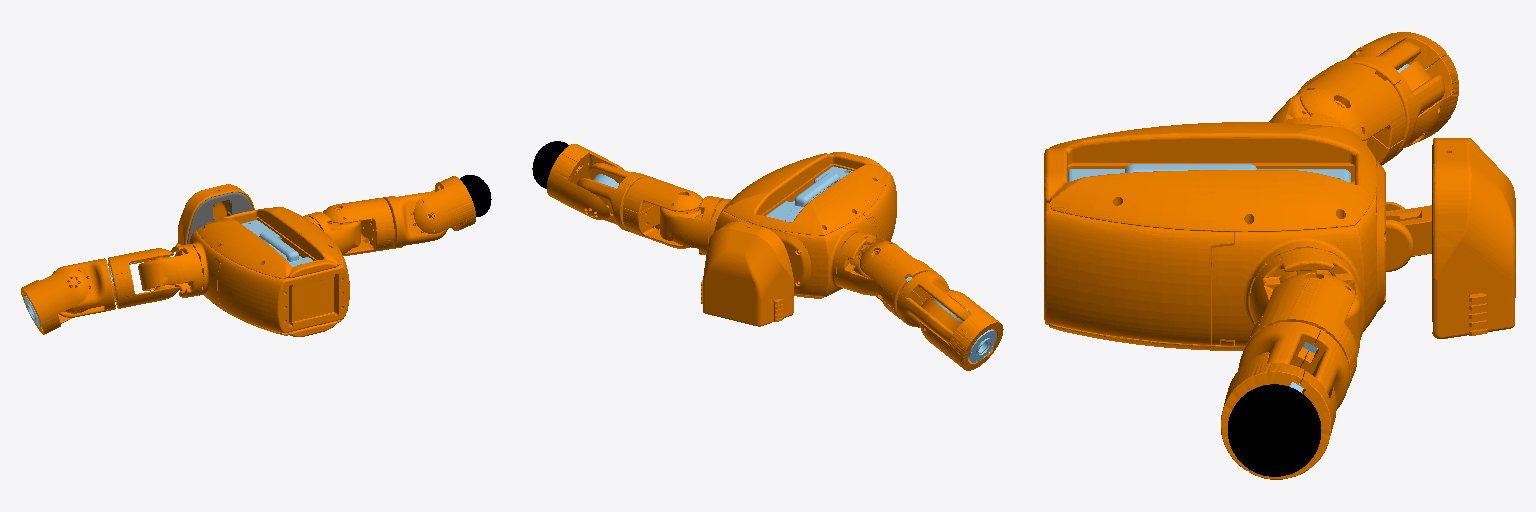
--- Render facts (derived) ---
Views: 3 orthographic renders of the robot side by side, from view 1: azimuth 30°, elevation 25°; view 2: azimuth 150°, elevation 25°; view 3: azimuth 270°, elevation 25°.
Model upper_half_assembly with 95 links and 94 joints (8 revolute, 86 fixed), rooted at link_torso_top_left_1, posed all joints at 0 but 3 set to mid-range because 0 is outside their limits (left shoulder pitch = 2.63, right shoulder roll = -1.82, right elbow pitch = 2.62).
Visible links, largest first — view 1: link_torso_bottom_left_1, link_back_plate_lower_section_1, link_back_plate_upper_section_2, link_right_arm_1_right_arm_part_3a_1, link_left_arm_1_left_arm_part_3b_1, link_left_arm_1_shoulder_1, link_torso_bottom_half_right_1, link_right_arm_1_right_arm_part_2a_1, link_left_arm_1_left_arm_part_2b_1, link_right_arm_1_right_arm_part_1b_1, link_head_assembly_1_head_outter_1, link_left_arm_1_left_arm_part_1a_1 (+7 smaller); view 2: link_head_assembly_1_head_outter_1, link_back_plate_upper_section_2, link_torso_top_left_1, link_back_plate_lower_section_1, link_left_arm_1_left_arm_part_1b_1, link_right_arm_1_shoulder_1, link_right_arm_1_right_arm_part_3b_1, link_right_arm_1_right_arm_part_1b_1, link_left_arm_1_left_arm_part_2a_1, link_left_arm_1_shoulder_1, link_left_arm_1_left_arm_part_2b_1, link_torso_bottom_left_1 (+11 smaller); view 3: link_torso_bottom_half_right_1, link_back_plate_upper_section_2, link_head_assembly_1_head_outter_1, link_back_plate_lower_section_1, link_torso_top_half_right_2, link_right_arm_1_stub_1, link_left_arm_1_left_arm_part_1b_1, link_right_arm_1_right_arm_part_1b_1, link_head_assembly_1_neck_1, link_right_arm_1_shoulder_1, link_right_arm_1_right_arm_part_3a_1, link_right_arm_1_right_arm_part_2a_1 (+11 smaller).
Boxes of the visible links, x1=… form: link_torso_bottom_left_1: x1=215, y1=253, x2=313, y2=332; link_back_plate_lower_section_1: x1=228, y1=228, x2=341, y2=278; link_back_plate_upper_section_2: x1=197, y1=207, x2=324, y2=257; link_right_arm_1_right_arm_part_3a_1: x1=414, y1=176, x2=475, y2=233; link_left_arm_1_left_arm_part_3b_1: x1=21, y1=268, x2=88, y2=332; link_left_arm_1_shoulder_1: x1=138, y1=244, x2=202, y2=297; link_torso_bottom_half_right_1: x1=286, y1=234, x2=349, y2=325; link_right_arm_1_right_arm_part_2a_1: x1=384, y1=192, x2=447, y2=248; link_left_arm_1_left_arm_part_2b_1: x1=52, y1=258, x2=116, y2=311; link_right_arm_1_right_arm_part_1b_1: x1=323, y1=198, x2=393, y2=229; link_head_assembly_1_head_outter_1: x1=176, y1=184, x2=254, y2=245; link_left_arm_1_left_arm_part_1a_1: x1=112, y1=272, x2=180, y2=308; link_head_assembly_1_head_outter_1: x1=701, y1=221, x2=793, y2=326; link_back_plate_upper_section_2: x1=724, y1=173, x2=870, y2=235; link_torso_top_left_1: x1=768, y1=214, x2=875, y2=296; link_back_plate_lower_section_1: x1=765, y1=152, x2=887, y2=206; link_left_arm_1_left_arm_part_1b_1: x1=860, y1=241, x2=936, y2=308; link_right_arm_1_shoulder_1: x1=660, y1=196, x2=723, y2=254; link_right_arm_1_right_arm_part_3b_1: x1=547, y1=154, x2=609, y2=219; link_right_arm_1_right_arm_part_1b_1: x1=623, y1=176, x2=702, y2=212; link_left_arm_1_left_arm_part_2a_1: x1=897, y1=285, x2=962, y2=342; link_left_arm_1_shoulder_1: x1=837, y1=232, x2=886, y2=295; link_left_arm_1_left_arm_part_2b_1: x1=906, y1=271, x2=971, y2=321; link_torso_bottom_left_1: x1=851, y1=168, x2=896, y2=241; link_torso_bottom_half_right_1: x1=1044, y1=197, x2=1233, y2=345; link_back_plate_upper_section_2: x1=1200, y1=122, x2=1377, y2=231; link_head_assembly_1_head_outter_1: x1=1432, y1=138, x2=1515, y2=338; link_back_plate_lower_section_1: x1=1044, y1=123, x2=1199, y2=230; link_torso_top_half_right_2: x1=1212, y1=189, x2=1376, y2=345; link_right_arm_1_stub_1: x1=1228, y1=384, x2=1321, y2=476; link_left_arm_1_left_arm_part_1b_1: x1=1300, y1=63, x2=1405, y2=147; link_right_arm_1_right_arm_part_1b_1: x1=1246, y1=272, x2=1355, y2=359; link_head_assembly_1_neck_1: x1=1377, y1=161, x2=1431, y2=311; link_right_arm_1_shoulder_1: x1=1250, y1=248, x2=1364, y2=356; link_right_arm_1_right_arm_part_3a_1: x1=1221, y1=352, x2=1303, y2=470; link_right_arm_1_right_arm_part_2a_1: x1=1238, y1=322, x2=1320, y2=369.
Bounding box of the posed robot: 1.15 × 0.5084 × 0.2214 m (x, y, z).
52 mesh visuals loaded from 93 distinct referenced files (52 binary STL); not drawn: 41 (reference not matched to a file when rendering).

robot.urdf — upper_half_assembly:
<?xml version='1.0' encoding='utf-8'?>
<robot name="upper_half_assembly">
  <link name="link_torso_top_left_1">
    <visual>
      <origin xyz="0 0 0" rpy="0 0 0" />
      <geometry>
        <mesh filename="./meshes/torso_top_left_1_simple.stl" />
        </geometry>
      <material name="link_torso_top_left_1_material">
        <color rgba="0.97254902 0.52941176 0.0039215686 1" />
        </material>
      </visual>
    <collision>
      <origin xyz="0 0 0" rpy="0 0 0" />
      <geometry>
        <mesh filename="./meshes/torso_top_left_1_simple.stl" />
        </geometry>
      </collision>
    <inertial>
      <mass value="1.4082058" />
      <inertia ixx="0.0056937695" iyy="0.0048367342" izz="0.006515341" ixy="-0.0010914973" ixz="3.5650766e-05" iyz="6.9389161e-05" />
      <origin xyz="0 0 0" rpy="-0.025327426 0.047575449 3.1377706" />
      </inertial>
    </link>
  <link name="link_torso_top_half_right_2">
    <visual>
      <origin xyz="0 0 0" rpy="0 0 0" />
      <geometry>
        <mesh filename="./meshes/torso_top_half_right_2_simple.stl" />
        </geometry>
      <material name="link_torso_top_half_right_2_material">
        <color rgba="0.97254902 0.52941176 0.0039215686 1" />
        </material>
      </visual>
    <collision>
      <origin xyz="0 0 0" rpy="0 0 0" />
      <geometry>
        <mesh filename="./meshes/torso_top_half_right_2_simple.stl" />
        </geometry>
      </collision>
    <inertial>
      <mass value="1.4342783" />
      <inertia ixx="0.0067183719" iyy="0.0057611306" izz="0.0050041417" ixy="-8.0190884e-05" ixz="9.5098445e-05" iyz="0.0011779547" />
      <origin xyz="-0.051817322 -0.067698351 0.076230913" rpy="0.33813328 -0.43770451 -0.59590428" />
      </inertial>
    </link>
  <joint name="joint_fastened_3" type="fixed">
    <origin xyz="0.077587758 0.052628725 0.067282432" rpy="1.5707963 0 1.5707963" />
    <parent link="link_torso_top_left_1" />
    <child link="link_torso_top_half_right_2" />
    </joint>
  <link name="link_front_plate_top_section_1">
    <visual>
      <origin xyz="0 0 0" rpy="0 0 0" />
      <geometry>
        <mesh filename="./meshes/front_plate_top_section_1_simple.stl" />
        </geometry>
      <material name="link_front_plate_top_section_1_material">
        <color rgba="0.97254902 0.52941176 0.0039215686 1" />
        </material>
      </visual>
    <collision>
      <origin xyz="0 0 0" rpy="0 0 0" />
      <geometry>
        <mesh filename="./meshes/front_plate_top_section_1_simple.stl" />
        </geometry>
      </collision>
    <inertial>
      <mass value="0.34600869" />
      <inertia ixx="0.0011399389" iyy="0.0018748067" izz="0.0029434056" ixy="0" ixz="0" iyz="-4.5694949e-05" />
      <origin xyz="0.1094129 0.070808195 0.020035041" rpy="0 -2.7168481e-05 3.1415921" />
      </inertial>
    </link>
  <joint name="joint_fastened_4" type="fixed">
    <origin xyz="-0.031827314 0.026314365 -0.067717568" rpy="3.1415927 0 0" />
    <parent link="link_torso_top_left_1" />
    <child link="link_front_plate_top_section_1" />
    </joint>
  <link name="link_washer_m4_15">
    <visual>
      <origin xyz="0 0 0" rpy="0 0 0" />
      <geometry>
        <mesh filename="./meshes/washer_m4_15_simple.stl" />
        </geometry>
      <material name="link_washer_m4_15_material">
        <color rgba="0.75294118 0.75294118 0.75294118 1" />
        </material>
      </visual>
    <collision>
      <origin xyz="0 0 0" rpy="0 0 0" />
      <geometry>
        <mesh filename="./meshes/washer_m4_15_simple.stl" />
        </geometry>
      </collision>
    <inertial>
      <mass value="4.5615925e-05" />
      <inertia ixx="0" iyy="0" izz="0" ixy="0" ixz="0" iyz="0" />
      <origin xyz="0 0 0.0004" rpy="0 0 1.5707963" />
      </inertial>
    </link>
  <joint name="joint_fastened_1" type="fixed">
    <origin xyz="-0.0717882 0.0022541638 -0.050148036" rpy="-1.5707963 0 1.4406356" />
    <parent link="link_torso_top_left_1" />
    <child link="link_washer_m4_15" />
    </joint>
  <link name="link_washer_m4_10">
    <visual>
      <origin xyz="0 0 0" rpy="0 0 0" />
      <geometry>
        <mesh filename="./meshes/washer_m4_10_simple.stl" />
        </geometry>
      <material name="link_washer_m4_10_material">
        <color rgba="0.75294118 0.75294118 0.75294118 1" />
        </material>
      </visual>
    <collision>
      <origin xyz="0 0 0" rpy="0 0 0" />
      <geometry>
        <mesh filename="./meshes/washer_m4_10_simple.stl" />
        </geometry>
      </collision>
    <inertial>
      <mass value="4.5615925e-05" />
      <inertia ixx="0" iyy="0" izz="0" ixy="0" ixz="0" iyz="0" />
      <origin xyz="0 0 0.0004" rpy="0 0 1.5707963" />
      </inertial>
    </link>
  <joint name="joint_fastened_67" type="fixed">
    <origin xyz="-0.075999581 -0.029918155 -0.050148036" rpy="-1.5707963 0 1.4406356" />
    <parent link="link_torso_top_left_1" />
    <child link="link_washer_m4_10" />
    </joint>
  <link name="link_washer_m4_13">
    <visual>
      <origin xyz="0 0 0" rpy="0 0 0" />
      <geometry>
        <mesh filename="./meshes/washer_m4_13_simple.stl" />
        </geometry>
      <material name="link_washer_m4_13_material">
        <color rgba="0.75294118 0.75294118 0.75294118 1" />
        </material>
      </visual>
    <collision>
      <origin xyz="0 0 0" rpy="0 0 0" />
      <geometry>
        <mesh filename="./meshes/washer_m4_13_simple.stl" />
        </geometry>
      </collision>
    <inertial>
      <mass value="4.5615925e-05" />
      <inertia ixx="0" iyy="0" izz="0" ixy="0" ixz="0" iyz="0" />
      <origin xyz="0 0 0.0004" rpy="0 0 1.5707963" />
      </inertial>
    </link>
  <joint name="joint_fastened_68" type="fixed">
    <origin xyz="-0.079406661 -0.055946107 -0.031076294" rpy="-1.5707963 0 1.4406356" />
    <parent link="link_torso_top_left_1" />
    <child link="link_washer_m4_13" />
    </joint>
  <link name="link_washer_m4_14">
    <visual>
      <origin xyz="0 0 0" rpy="0 0 0" />
      <geometry>
        <mesh filename="./meshes/washer_m4_14_simple.stl" />
        </geometry>
      <material name="link_washer_m4_14_material">
        <color rgba="0.75294118 0.75294118 0.75294118 1" />
        </material>
      </visual>
    <collision>
      <origin xyz="0 0 0" rpy="0 0 0" />
      <geometry>
        <mesh filename="./meshes/washer_m4_14_simple.stl" />
        </geometry>
      </collision>
    <inertial>
      <mass value="4.5615925e-05" />
      <inertia ixx="0" iyy="0" izz="0" ixy="0" ixz="0" iyz="0" />
      <origin xyz="0 0 0.0004" rpy="0 0 1.5707963" />
      </inertial>
    </link>
  <joint name="joint_fastened_69" type="fixed">
    <origin xyz="-0.080708049 -0.0658879 -0.00021756843" rpy="-1.5707963 0 1.4406356" />
    <parent link="link_torso_top_left_1" />
    <child link="link_washer_m4_14" />
    </joint>
  <link name="link_washer_m4_16">
    <visual>
      <origin xyz="0 0 0" rpy="0 0 0" />
      <geometry>
        <mesh filename="./meshes/washer_m4_16_simple.stl" />
        </geometry>
      <material name="link_washer_m4_16_material">
        <color rgba="0.75294118 0.75294118 0.75294118 1" />
        </material>
      </visual>
    <collision>
      <origin xyz="0 0 0" rpy="0 0 0" />
      <geometry>
        <mesh filename="./meshes/washer_m4_16_simple.stl" />
        </geometry>
      </collision>
    <inertial>
      <mass value="4.5615925e-05" />
      <inertia ixx="0" iyy="0" izz="0" ixy="0" ixz="0" iyz="0" />
      <origin xyz="0 0 0.0004" rpy="0 0 1.5707963" />
      </inertial>
    </link>
  <joint name="joint_fastened_70" type="fixed">
    <origin xyz="-0.079406661 -0.055946107 0.030641157" rpy="-1.5707963 0 1.4406356" />
    <parent link="link_torso_top_left_1" />
    <child link="link_washer_m4_16" />
    </joint>
  <link name="link_washer_m4_12">
    <visual>
      <origin xyz="0 0 0" rpy="0 0 0" />
      <geometry>
        <mesh filename="./meshes/washer_m4_12_simple.stl" />
        </geometry>
      <material name="link_washer_m4_12_material">
        <color rgba="0.75294118 0.75294118 0.75294118 1" />
        </material>
      </visual>
    <collision>
      <origin xyz="0 0 0" rpy="0 0 0" />
      <geometry>
        <mesh filename="./meshes/washer_m4_12_simple.stl" />
        </geometry>
      </collision>
    <inertial>
      <mass value="4.5615925e-05" />
      <inertia ixx="0" iyy="0" izz="0" ixy="0" ixz="0" iyz="0" />
      <origin xyz="0 0 0.0004" rpy="0 0 1.5707963" />
      </inertial>
    </link>
  <joint name="joint_fastened_71" type="fixed">
    <origin xyz="-0.075999581 -0.029918155 0.049712899" rpy="-1.5707963 0 1.4406356" />
    <parent link="link_torso_top_left_1" />
    <child link="link_washer_m4_12" />
    </joint>
  <link name="link_washer_m4_17">
    <visual>
      <origin xyz="0 0 0" rpy="0 0 0" />
      <geometry>
        <mesh filename="./meshes/washer_m4_17_simple.stl" />
        </geometry>
      <material name="link_washer_m4_17_material">
        <color rgba="0.75294118 0.75294118 0.75294118 1" />
        </material>
      </visual>
    <collision>
      <origin xyz="0 0 0" rpy="0 0 0" />
      <geometry>
        <mesh filename="./meshes/washer_m4_17_simple.stl" />
        </geometry>
      </collision>
    <inertial>
      <mass value="4.5615925e-05" />
      <inertia ixx="0" iyy="0" izz="0" ixy="0" ixz="0" iyz="0" />
      <origin xyz="0 0 0.0004" rpy="0 0 1.5707963" />
      </inertial>
    </link>
  <joint name="joint_fastened_72" type="fixed">
    <origin xyz="-0.0717882 0.0022541638 0.049712899" rpy="-1.5707963 0 1.4406356" />
    <parent link="link_torso_top_left_1" />
    <child link="link_washer_m4_17" />
    </joint>
  <link name="link_washer_m4_18">
    <visual>
      <origin xyz="0 0 0" rpy="0 0 0" />
      <geometry>
        <mesh filename="./meshes/washer_m4_18_simple.stl" />
        </geometry>
      <material name="link_washer_m4_18_material">
        <color rgba="0.75294118 0.75294118 0.75294118 1" />
        </material>
      </visual>
    <collision>
      <origin xyz="0 0 0" rpy="0 0 0" />
      <geometry>
        <mesh filename="./meshes/washer_m4_18_simple.stl" />
        </geometry>
      </collision>
    <inertial>
      <mass value="4.5615925e-05" />
      <inertia ixx="0" iyy="0" izz="0" ixy="0" ixz="0" iyz="0" />
      <origin xyz="0 0 0.0004" rpy="0 0 1.5707963" />
      </inertial>
    </link>
  <joint name="joint_fastened_73" type="fixed">
    <origin xyz="-0.06838112 0.028282116 0.030641157" rpy="-1.5707963 0 1.4406356" />
    <parent link="link_torso_top_left_1" />
    <child link="link_washer_m4_18" />
    </joint>
  <link name="link_washer_m4_19">
    <visual>
      <origin xyz="0 0 0" rpy="0 0 0" />
      <geometry>
        <mesh filename="./meshes/washer_m4_19_simple.stl" />
        </geometry>
      <material name="link_washer_m4_19_material">
        <color rgba="0.75294118 0.75294118 0.75294118 1" />
        </material>
      </visual>
    <collision>
      <origin xyz="0 0 0" rpy="0 0 0" />
      <geometry>
        <mesh filename="./meshes/washer_m4_19_simple.stl" />
        </geometry>
      </collision>
    <inertial>
      <mass value="4.5615925e-05" />
      <inertia ixx="0" iyy="0" izz="0" ixy="0" ixz="0" iyz="0" />
      <origin xyz="0 0 0.0004" rpy="3.1415927 0 -1.5707963" />
      </inertial>
    </link>
  <joint name="joint_fastened_75" type="fixed">
    <origin xyz="-0.047244891 -0.033682166 0.049712899" rpy="1.5707963 0 1.4406356" />
    <parent link="link_torso_top_left_1" />
    <child link="link_washer_m4_19" />
    </joint>
  <link name="link_washer_m4_24">
    <visual>
      <origin xyz="0 0 0" rpy="0 0 0" />
      <geometry>
        <mesh filename="./meshes/washer_m4_24_simple.stl" />
        </geometry>
      <material name="link_washer_m4_24_material">
        <color rgba="0.75294118 0.75294118 0.75294118 1" />
        </material>
      </visual>
    <collision>
      <origin xyz="0 0 0" rpy="0 0 0" />
      <geometry>
        <mesh filename="./meshes/washer_m4_24_simple.stl" />
        </geometry>
      </collision>
    <inertial>
      <mass value="4.5615925e-05" />
      <inertia ixx="0" iyy="0" izz="0" ixy="0" ixz="0" iyz="0" />
      <origin xyz="0 0 0.0004" rpy="3.1415927 0 -1.5707963" />
      </inertial>
    </link>
  <joint name="joint_fastened_76" type="fixed">
    <origin xyz="-0.051953359 -0.069651912 -0.00021756843" rpy="1.5707963 0 1.4406356" />
    <parent link="link_torso_top_left_1" />
    <child link="link_washer_m4_24" />
    </joint>
  <link name="link_head_assembly_1_neck_1">
    <visual>
      <origin xyz="0 0 0" rpy="0 0 0" />
      <geometry>
        <mesh filename="./meshes/head_assembly_1_neck_1_simple.stl" />
        </geometry>
      <material name="link_head_assembly_1_neck_1_material">
        <color rgba="0.97254902 0.52941176 0.0039215686 1" />
        </material>
      </visual>
    <collision>
      <origin xyz="0 0 0" rpy="0 0 0" />
      <geometry>
        <mesh filename="./meshes/head_assembly_1_neck_1_simple.stl" />
        </geometry>
      </collision>
    <inertial>
      <mass value="0.3554213" />
      <inertia ixx="0.00036937565" iyy="0.00073347597" izz="0.00093514459" ixy="0" ixz="0" iyz="-1.1684031e-05" />
      <origin xyz="-0.075000003 -0.035790651 -0.013305487" rpy="0 0 0" />
      </inertial>
    </link>
  <joint name="joint_fastened_10" type="fixed">
    <origin xyz="0.0025877582 0.064824336 -0.035217568" rpy="-1.5707963 0 -3.1415927" />
    <parent link="link_torso_top_left_1" />
    <child link="link_head_assembly_1_neck_1" />
    </joint>
  <link name="link_washer_m4_6">
    <visual>
      <origin xyz="0 0 0" rpy="0 0 0" />
      <geometry>
        <mesh filename="./meshes/washer_m4_6_simple.stl" />
        </geometry>
      <material name="link_washer_m4_6_material">
        <color rgba="0.75294118 0.75294118 0.75294118 1" />
        </material>
      </visual>
    <collision>
      <origin xyz="0 0 0" rpy="0 0 0" />
      <geometry>
        <mesh filename="./meshes/washer_m4_6_simple.stl" />
        </geometry>
      </collision>
    <inertial>
      <mass value="4.5615925e-05" />
      <inertia ixx="0" iyy="0" izz="0" ixy="0" ixz="0" iyz="0" />
      <origin xyz="0 0 0.0004" rpy="0 0 -1.5707963" />
      </inertial>
    </link>
  <joint name="joint_fastened_33" type="fixed">
    <origin xyz="-0.050374561 -0.11743047 0.14937596" rpy="0 -0.13016072 3.1415927" />
    <parent link="link_torso_top_half_right_2" />
    <child link="link_washer_m4_6" />
    </joint>
  <link name="link_washer_m4_7">
    <visual>
      <origin xyz="0 0 0" rpy="0 0 0" />
      <geometry>
        <mesh filename="./meshes/washer_m4_7_simple.stl" />
        </geometry>
      <material name="link_washer_m4_7_material">
        <color rgba="0.75294118 0.75294118 0.75294118 1" />
        </material>
      </visual>
    <collision>
      <origin xyz="0 0 0" rpy="0 0 0" />
      <geometry>
        <mesh filename="./meshes/washer_m4_7_simple.stl" />
        </geometry>
      </collision>
    <inertial>
      <mass value="4.5615925e-05" />
      <inertia ixx="0" iyy="0" izz="0" ixy="0" ixz="0" iyz="0" />
      <origin xyz="0 0 0.0004" rpy="0 0 -1.5707963" />
      </inertial>
    </link>
  <joint name="joint_fastened_34" type="fixed">
    <origin xyz="-0.082546879 -0.11743047 0.15358734" rpy="0 -0.13016072 3.1415927" />
    <parent link="link_torso_top_half_right_2" />
    <child link="link_washer_m4_7" />
    </joint>
  <link name="link_washer_m4_5">
    <visual>
      <origin xyz="0 0 0" rpy="0 0 0" />
      <geometry>
        <mesh filename="./meshes/washer_m4_5_simple.stl" />
        </geometry>
      <material name="link_washer_m4_5_material">
        <color rgba="0.75294118 0.75294118 0.75294118 1" />
        </material>
      </visual>
    <collision>
      <origin xyz="0 0 0" rpy="0 0 0" />
      <geometry>
        <mesh filename="./meshes/washer_m4_5_simple.stl" />
        </geometry>
      </collision>
    <inertial>
      <mass value="4.5615925e-05" />
      <inertia ixx="0" iyy="0" izz="0" ixy="0" ixz="0" iyz="0" />
      <origin xyz="0 0 0.0004" rpy="0 0 -1.5707963" />
      </inertial>
    </link>
  <joint name="joint_fastened_35" type="fixed">
    <origin xyz="-0.10857483 -0.098358726 0.15699442" rpy="0 -0.13016072 3.1415927" />
    <parent link="link_torso_top_half_right_2" />
    <child link="link_washer_m4_5" />
    </joint>
  <link name="link_washer_m4_8">
    <visual>
      <origin xyz="0 0 0" rpy="0 0 0" />
      <geometry>
        <mesh filename="./meshes/washer_m4_8_simple.stl" />
        </geometry>
      <material name="link_washer_m4_8_material">
        <color rgba="0.75294118 0.75294118 0.75294118 1" />
        </material>
      </visual>
    <collision>
      <origin xyz="0 0 0" rpy="0 0 0" />
      <geometry>
        <mesh filename="./meshes/washer_m4_8_simple.stl" />
        </geometry>
      </collision>
    <inertial>
      <mass value="4.5615925e-05" />
      <inertia ixx="0" iyy="0" izz="0" ixy="0" ixz="0" iyz="0" />
      <origin xyz="0 0 0.0004" rpy="0 0 -1.5707963" />
      </inertial>
    </link>
  <joint name="joint_fastened_36" type="fixed">
    <origin xyz="-0.11851663 -0.0675 0.15829581" rpy="0 -0.13016072 3.1415927" />
    <parent link="link_torso_top_half_right_2" />
    <child link="link_washer_m4_8" />
    </joint>
  <link name="link_washer_m4_9">
    <visual>
      <origin xyz="0 0 0" rpy="0 0 0" />
      <geometry>
        <mesh filename="./meshes/washer_m4_9_simple.stl" />
        </geometry>
      <material name="link_washer_m4_9_material">
        <color rgba="0.75294118 0.75294118 0.75294118 1" />
        </material>
      </visual>
    <collision>
      <origin xyz="0 0 0" rpy="0 0 0" />
      <geometry>
        <mesh filename="./meshes/washer_m4_9_simple.stl" />
        </geometry>
      </collision>
    <inertial>
      <mass value="4.5615925e-05" />
      <inertia ixx="0" iyy="0" izz="0" ixy="0" ixz="0" iyz="0" />
      <origin xyz="0 0 0.0004" rpy="0 0 -1.5707963" />
      </inertial>
    </link>
  <joint name="joint_fastened_37" type="fixed">
    <origin xyz="-0.10857483 -0.036641274 0.15699442" rpy="0 -0.13016072 3.1415927" />
    <parent link="link_torso_top_half_right_2" />
    <child link="link_washer_m4_9" />
    </joint>
  <link name="link_washer_m4_4">
    <visual>
      <origin xyz="0 0 0" rpy="0 0 0" />
      <geometry>
        <mesh filename="./meshes/washer_m4_4_simple.stl" />
        </geometry>
      <material name="link_washer_m4_4_material">
        <color rgba="0.75294118 0.75294118 0.75294118 1" />
        </material>
      </visual>
    <collision>
      <origin xyz="0 0 0" rpy="0 0 0" />
      <geometry>
        <mesh filename="./meshes/washer_m4_4_simple.stl" />
        </geometry>
      </collision>
    <inertial>
      <mass value="4.5615925e-05" />
      <inertia ixx="0" iyy="0" izz="0" ixy="0" ixz="0" iyz="0" />
      <origin xyz="0 0 0.0004" rpy="0 0 -1.5707963" />
      </inertial>
    </link>
  <joint name="joint_fastened_38" type="fixed">
    <origin xyz="-0.082546879 -0.017569533 0.15358734" rpy="0 -0.13016072 3.1415927" />
    <parent link="link_torso_top_half_right_2" />
    <child link="link_washer_m4_4" />
    </joint>
  <link name="link_washer_m4_11">
    <visual>
      <origin xyz="0 0 0" rpy="0 0 0" />
      <geometry>
        <mesh filename="./meshes/washer_m4_11_simple.stl" />
        </geometry>
      <material name="link_washer_m4_11_material">
        <color rgba="0.75294118 0.75294118 0.75294118 1" />
        </material>
      </visual>
    <collision>
      <origin xyz="0 0 0" rpy="0 0 0" />
      <geometry>
        <mesh filename="./meshes/washer_m4_11_simple.stl" />
        </geometry>
      </collision>
    <inertial>
      <mass value="4.5615925e-05" />
      <inertia ixx="0" iyy="0" izz="0" ixy="0" ixz="0" iyz="0" />
      <origin xyz="0 0 0.0004" rpy="0 0 -1.5707963" />
      </inertial>
    </link>
  <joint name="joint_fastened_39" type="fixed">
    <origin xyz="-0.050374561 -0.017569533 0.14937596" rpy="0 -0.13016072 3.1415927" />
    <parent link="link_torso_top_half_right_2" />
    <child link="link_washer_m4_11" />
    </joint>
  <link name="link_back_plate_upper_section_2">
    <visual>
      <origin xyz="0 0 0" rpy="0 0 0" />
      <geometry>
        <mesh filename="./meshes/back_plate_upper_section_2_simple.stl" />
        </geometry>
      <material name="link_back_plate_upper_section_2_material">
        <color rgba="0.97254902 0.52941176 0.0039215686 1" />
        </material>
      </visual>
    <collision>
      <origin xyz="0 0 0" rpy="0 0 0" />
      <geometry>
        <mesh filename="./meshes/back_plate_upper_section_2_simple.stl" />
        </geometry>
      </collision>
    <inertial>
      <mass value="0.29699096" />
      <inertia ixx="0.00095993414" iyy="0.0019372525" izz="0.0028437586" ixy="0" ixz="0" iyz="4.2191982e-05" />
      <origin xyz="-0.10932046 -0.066164701 0.016189517" rpy="-3.1415926 -5.8545943e-05 -3.1415913" />
      </inertial>
    </link>
  <joint name="joint_fastened_55" type="fixed">
    <origin xyz="-0.026314359 0 0.10941507" rpy="-1.5707963 -1.5707963 0" />
    <parent link="link_torso_top_half_right_2" />
    <child link="link_back_plate_upper_section_2" />
    </joint>
  <link name="link_washer_m4_33">
    <visual>
      <origin xyz="0 0 0" rpy="0 0 0" />
      <geometry>
        <mesh filename="./meshes/washer_m4_33_simple.stl" />
        </geometry>
      <material name="link_washer_m4_33_material">
        <color rgba="0.75294118 0.75294118 0.75294118 1" />
        </material>
      </visual>
    <collision>
      <origin xyz="0 0 0" rpy="0 0 0" />
      <geometry>
        <mesh filename="./meshes/washer_m4_33_simple.stl" />
        </geometry>
      </collision>
    <inertial>
      <mass value="4.5615925e-05" />
      <inertia ixx="0" iyy="0" izz="0" ixy="0" ixz="0" iyz="0" />
      <origin xyz="0 0 0.0004" rpy="0 0 -1.5707963" />
      </inertial>
    </link>
  <joint name="joint_fastened_28" type="fixed">
    <origin xyz="-0.054138572 -0.017569533 0.12062127" rpy="3.1415927 -0.13016072 3.1415927" />
    <parent link="link_torso_top_half_right_2" />
    <child link="link_washer_m4_33" />
    </joint>
  <link name="link_washer_m4_26">
    <visual>
      <origin xyz="0 0 0" rpy="0 0 0" />
      <geometry>
        <mesh filename="./meshes/washer_m4_26_simple.stl" />
        </geometry>
      <material name="link_washer_m4_26_material">
        <color rgba="0.75294118 0.75294118 0.75294118 1" />
        </material>
      </visual>
    <collision>
      <origin xyz="0 0 0" rpy="0 0 0" />
      <geometry>
        <mesh filename="./meshes/washer_m4_26_simple.stl" />
        </geometry>
      </collision>
    <inertial>
      <mass value="4.5615925e-05" />
      <inertia ixx="0" iyy="0" izz="0" ixy="0" ixz="0" iyz="0" />
      <origin xyz="0 0 0.0004" rpy="0 0 -1.5707963" />
      </inertial>
    </link>
  <joint name="joint_fastened_83" type="fixed">
    <origin xyz="-0.12228064 -0.0675 0.12954112" rpy="3.1415927 -0.13016072 3.1415927" />
    <parent link="link_torso_top_half_right_2" />
    <child link="link_washer_m4_26" />
    </joint>
  <link name="link_washer_m4_3">
    <visual>
      <origin xyz="0 0 0" rpy="0 0 0" />
      <geometry>
        <mesh filename="./meshes/washer_m4_3_simple.stl" />
        </geometry>
      <material name="link_washer_m4_3_material">
        <color rgba="0.75294118 0.75294118 0.75294118 1" />
        </material>
      </visual>
    <collision>
      <origin xyz="0 0 0" rpy="0 0 0" />
      <geometry>
        <mesh filename="./meshes/washer_m4_3_simple.stl" />
        </geometry>
      </collision>
    <inertial>
      <mass value="4.5615925e-05" />
      <inertia ixx="0" iyy="0" izz="0" ixy="0" ixz="0" iyz="0" />
      <origin xyz="0 0 0.0004" rpy="0 0 -1.5707963" />
      </inertial>
    </link>
  <joint name="joint_fastened_24" type="fixed">
    <origin xyz="-0.024346608 -0.036641274 0.14596888" rpy="0 -0.13016072 3.1415927" />
    <parent link="link_torso_top_half_right_2" />
    <child link="link_washer_m4_3" />
    </joint>
  <link name="link_36v_battery_1">
    <visual>
      <origin xyz="0 0 0" rpy="0 0 0" />
      <geometry>
        <mesh filename="./meshes/36v_battery_1_simple.stl" />
        </geometry>
      <material name="link_36v_battery_1_material">
        <color rgba="0.61568627 0.81176471 0.92941176 1" />
        </material>
      </visual>
    <collision>
      <origin xyz="0 0 0" rpy="0 0 0" />
      <geometry>
        <mesh filename="./meshes/36v_battery_1_simple.stl" />
        </geometry>
      </collision>
    <inertial>
      <mass value="2.0955967" />
      <inertia ixx="0.0084129816" iyy="0.0076952975" izz="0.0024341772" ixy="0" ixz="0" iyz="0" />
      <origin xyz="0 0 -0.098933" rpy="3.1415927 0 3.1415927" />
      </inertial>
    </link>
  <joint name="joint_fastened_41" type="fixed">
    <origin xyz="-0.038195612 -0.0811 0" rpy="-3.1415927 -1.5707963 0" />
    <parent link="link_torso_top_half_right_2" />
    <child link="link_36v_battery_1" />
    </joint>
  <link name="link_front_plate_bottom_section_1">
    <visual>
      <origin xyz="0 0 0" rpy="0 0 0" />
      <geometry>
        <mesh filename="./meshes/front_plate_bottom_section_1_simple.stl" />
        </geometry>
      <material name="link_front_plate_bottom_section_1_material">
        <color rgba="0.97254902 0.52941176 0.0039215686 1" />
        </material>
      </visual>
    <collision>
      <origin xyz="0 0 0" rpy="0 0 0" />
      <geometry>
        <mesh filename="./meshes/front_plate_bottom_section_1_simple.stl" />
        </geometry>
      </collision>
    <inertial>
      <mass value="0.37044647" />
      <inertia ixx="0.0011796221" iyy="0.0024890633" izz="0.0013863249" ixy="0" ixz="0" iyz="-8.8613506e-05" />
      <origin xyz="-2.2498728e-06 -0.018554539 -0.086809475" rpy="0 0.00015558977 3.1414241" />
      </inertial>
    </link>
  <joint name="joint_fastened_53" type="fixed">
    <origin xyz="0.10941508 0.15200268 0.035" rpy="1.5707963 0 0" />
    <parent link="link_front_plate_top_section_1" />
    <child link="link_front_plate_bottom_section_1" />
    </joint>
  <link name="link_robstride_04_mock_2_rs_04_stator_1">
    <visual>
      <origin xyz="0 0 0" rpy="0 0 0" />
      <geometry>
        <mesh filename="./meshes/robstride_04_mock_2_rs_04_stator_1_simple.stl" />
        </geometry>
      <material name="link_robstride_04_mock_2_rs_04_stator_1_material">
        <color rgba="0.23137255 0.38039216 0.70588235 1" />
        </material>
      </visual>
    <collision>
      <origin xyz="0 0 0" rpy="0 0 0" />
      <geometry>
        <mesh filename="./meshes/robstride_04_mock_2_rs_04_stator_1_simple.stl" />
        </geometry>
      </collision>
    <inertial>
      <mass value="1.2401215" />
      <inertia ixx="0.0014258703" iyy="0.0014595009" izz="0.0023661617" ixy="0" ixz="0" iyz="-3.2654023e-06" />
      <origin xyz="0.053 -0.00013786024 -0.024399367" rpy="3.1415927 0 0" />
      </inertial>
    </link>
  <joint name="joint_fastened_30" type="fixed">
    <origin xyz="0 0 0.0008" rpy="3.1415927 0 0" />
    <parent link="link_washer_m4_24" />
    <child link="link_robstride_04_mock_2_rs_04_stator_1" />
    </joint>
  <link name="link_head_assembly_1_head_inner_1">
    <visual>
      <origin xyz="0 0 0" rpy="0 0 0" />
      <geometry>
        <mesh filename="./meshes/head_assembly_1_head_inner_1_simple.stl" />
        </geometry>
      <material name="link_head_assembly_1_head_inner_1_material">
        <color rgba="0.49803922 0.49803922 0.49803922 1" />
        </material>
      </visual>
    <collision>
      <origin xyz="0 0 0" rpy="0 0 0" />
      <geometry>
        <mesh filename="./meshes/head_assembly_1_head_inner_1_simple.stl" />
        </geometry>
      </collision>
    <inertial>
      <mass value="0.50934485" />
      <inertia ixx="0.0016235943" iyy="0.0017599805" izz="0.0030161307" ixy="2.9008214e-06" ixz="-5.9913818e-06" iyz="0.00016836122" />
      <origin xyz="0.00093888986 0.020417048 -0.017512282" rpy="0.13093988 -0.0039310025 3.1096118" />
      </inertial>
    </link>
  <joint name="joint_head_assembly_1_fastened_2" type="fixed">
    <origin xyz="-0.074999995 -0.051816349 -0.06" rpy="0 0 0" />
    <parent link="link_head_assembly_1_neck_1" />
    <child link="link_head_assembly_1_head_inner_1" />
    </joint>
  <link name="link_robstride_04_mock_1_rs_04_stator_1">
    <visual>
      <origin xyz="0 0 0" rpy="0 0 0" />
      <geometry>
        <mesh filename="./meshes/robstride_04_mock_1_rs_04_stator_1_simple.stl" />
        </geometry>
      <material name="link_robstride_04_mock_1_rs_04_stator_1_material">
        <color rgba="0.23137255 0.38039216 0.70588235 1" />
        </material>
      </visual>
    <collision>
      <origin xyz="0 0 0" rpy="0 0 0" />
      <geometry>
        <mesh filename="./meshes/robstride_04_mock_1_rs_04_stator_1_simple.stl" />
        </geometry>
      </collision>
    <inertial>
      <mass value="1.2401215" />
      <inertia ixx="0.0023661617" iyy="0.0014595009" izz="0.0014258703" ixy="-3.2654023e-06" ixz="0" iyz="0" />
      <origin xyz="-0.00013786024 -0.053 0.024399367" rpy="3.1379911 0.0036015076 0" />
      </inertial>
    </link>
  <joint name="joint_fastened_23" type="fixed">
    <origin xyz="0 0 0.0008" rpy="0 0 -1.5707963" />
    <parent link="link_washer_m4_26" />
    <child link="link_robstride_04_mock_1_rs_04_stator_1" />
    </joint>
  <link name="link_torso_bottom_left_1">
    <visual>
      <origin xyz="0 0 0" rpy="0 0 0" />
      <geometry>
        <mesh filename="./meshes/torso_bottom_left_1_simple.stl" />
        </geometry>
      <material name="link_torso_bottom_left_1_material">
        <color rgba="0.97254902 0.52941176 0.0039215686 1" />
        </material>
      </visual>
    <collision>
      <origin xyz="0 0 0" rpy="0 0 0" />
      <geometry>
        <mesh filename="./meshes/torso_bottom_left_1_simple.stl" />
        </geometry>
      </collision>
    <inertial>
      <mass value="1.3423316" />
      <inertia ixx="0.0064336478" iyy="0.0038264467" izz="0.0065490736" ixy="-0.0014386119" ixz="3.9993789e-05" iyz="-2.7051109e-05" />
      <origin xyz="0.00050395379 -0.0078380523 -0.068322386" rpy="1.7897936 -1.1442695 -0.2024662" />
      </inertial>
    </link>
  <joint name="joint_fastened_5" type="fixed">
    <origin xyz="-0.088726412 -0.035 -0.088486315" rpy="-1.5707963 0 0" />
    <parent link="link_front_plate_bottom_section_1" />
    <child link="link_torso_bottom_left_1" />
    </joint>
  <link name="link_robstride_04_mock_2_rs_04_rotor_1">
    <visual>
      <origin xyz="0 0 0" rpy="0 0 0" />
      <geometry>
        <mesh filename="./meshes/robstride_04_mock_2_rs_04_rotor_1_simple.stl" />
        </geometry>
      <material name="link_robstride_04_mock_2_rs_04_rotor_1_material">
        <color rgba="0.91764706 0.91764706 0.91764706 1" />
        </material>
      </visual>
    <collision>
      <origin xyz="0 0 0" rpy="0 0 0" />
      <geometry>
        <mesh filename="./meshes/robstride_04_mock_2_rs_04_rotor_1_simple.stl" />
        </geometry>
      </collision>
    <inertial>
      <mass value="0.18007617" />
      <inertia ixx="5.4934872e-05" iyy="5.4934872e-05" izz="6.258733e-05" ixy="0" ixz="0" iyz="0" />
      <origin xyz="0 0 -0.01983378" rpy="0 1.5707963 0" />
      </inertial>
    </link>
  <joint name="left shoulder pitch" type="revolute">
    <origin xyz="0.053 0 -0.039" rpy="3.1415927 0 0" />
    <parent link="link_robstride_04_mock_2_rs_04_stator_1" />
    <child link="link_robstride_04_mock_2_rs_04_rotor_1" />
    <limit effort="80" velocity="5" lower="0.034906585" upper="5.2185345" />
    <axis xyz="0 0 -1" />
    </joint>
  <link name="link_head_assembly_1_head_outter_1">
    <visual>
      <origin xyz="0 0 0" rpy="0 0 0" />
      <geometry>
        <mesh filename="./meshes/head_assembly_1_head_outter_1_simple.stl" />
        </geometry>
      <material name="link_head_assembly_1_head_outter_1_material">
        <color rgba="0.97254902 0.52941176 0.0039215686 1" />
        </material>
      </visual>
    <collision>
      <origin xyz="0 0 0" rpy="0 0 0" />
      <geometry>
        <mesh filename="./meshes/head_assembly_1_head_outter_1_simple.stl" />
        </geometry>
      </collision>
    <inertial>
      <mass value="0.38329746" />
      <inertia ixx="0.0014575347" iyy="0.0026603996" izz="0.0017861547" ixy="0" ixz="0" iyz="-0.0001733053" />
      <origin xyz="0 0.036248868 0.08885866" rpy="0 1.031357e-05 -1.246993e-05" />
      </inertial>
    </link>
  <joint name="joint_head_assembly_1_fastened_1" type="fixed">
    <origin xyz="0 -0.079 -0.018964466" rpy="-1.5707963 0 0" />
    <parent link="link_head_assembly_1_head_inner_1" />
    <child link="link_head_assembly_1_head_outter_1" />
    </joint>
  <link name="link_head_assembly_1_camera_mount_1">
    <visual>
      <origin xyz="0 0 0" rpy="0 0 0" />
      <geometry>
        <mesh filename="./meshes/head_assembly_1_camera_mount_1_simple.stl" />
        </geometry>
      <material name="link_head_assembly_1_camera_mount_1_material">
        <color rgba="0.64705882 0.64705882 0.64705882 1" />
        </material>
      </visual>
    <collision>
      <origin xyz="0 0 0" rpy="0 0 0" />
      <geometry>
        <mesh filename="./meshes/head_assembly_1_camera_mount_1_simple.stl" />
        </geometry>
      </collision>
    <inertial>
      <mass value="0.048726412" />
      <inertia ixx="2.8893768e-05" iyy="6.465193e-05" izz="4.8229483e-05" ixy="0" ixz="0" iyz="8.3375487e-06" />
      <origin xyz="0.016000007 -0.018650499 0.026876772" rpy="0 0 0" />
      </inertial>
    </link>
  <joint name="joint_head_assembly_1_fastened_3" type="fixed">
    <origin xyz="-0.016 0.0415 -0.01" rpy="3.1415927 0 0" />
    <parent link="link_head_assembly_1_head_inner_1" />
    <child link="link_head_assembly_1_camera_mount_1" />
    </joint>
  <link name="link_robstride_04_mock_1_rs_04_rotor_1">
    <visual>
      <origin xyz="0 0 0" rpy="0 0 0" />
      <geometry>
        <mesh filename="./meshes/robstride_04_mock_1_rs_04_rotor_1_simple.stl" />
        </geometry>
      <material name="link_robstride_04_mock_1_rs_04_rotor_1_material">
        <color rgba="0.91764706 0.91764706 0.91764706 1" />
        </material>
      </visual>
    <collision>
      <origin xyz="0 0 0" rpy="0 0 0" />
      <geometry>
        <mesh filename="./meshes/robstride_04_mock_1_rs_04_rotor_1_simple.stl" />
        </geometry>
      </collision>
    <inertial>
      <mass value="0.18007617" />
      <inertia ixx="5.4934872e-05" iyy="5.4934872e-05" izz="6.258733e-05" ixy="0" ixz="0" iyz="0" />
      <origin xyz="0 0 -0.01983378" rpy="0 1.5707963 0" />
      </inertial>
    </link>
  <joint name="right shoulder pitch" type="revolute">
    <origin xyz="0 -0.053 0.039" rpy="0 0 1.5707963" />
    <parent link="link_robstride_04_mock_1_rs_04_stator_1" />
    <child link="link_robstride_04_mock_1_rs_04_rotor_1" />
    <limit effort="80" velocity="5" lower="-1.012291" upper="4.1538836" />
    <axis xyz="0 0 -1" />
    </joint>
  <link name="link_torso_bottom_half_right_1">
    <visual>
      <origin xyz="0 0 0" rpy="0 0 0" />
      <geometry>
        <mesh filename="./meshes/torso_bottom_half_right_1_simple.stl" />
        </geometry>
      <material name="link_torso_bottom_half_right_1_material">
        <color rgba="0.97254902 0.52941176 0.0039215686 1" />
        </material>
      </visual>
    <collision>
      <origin xyz="0 0 0" rpy="0 0 0" />
      <geometry>
        <mesh filename="./meshes/torso_bottom_half_right_1_simple.stl" />
        </geometry>
      </collision>
    <inertial>
      <mass value="1.3690608" />
      <inertia ixx="0.0068665985" iyy="0.0065706323" izz="0.0040184444" ixy="-4.5420787e-05" ixz="-2.2134662e-05" iyz="0.0015853306" />
      <origin xyz="0.08097111 -0.00087263965 -0.08660053" rpy="-1.570904 0.4465244 1.4633195" />
      </inertial>
    </link>
  <joint name="joint_fastened_6" type="fixed">
    <origin xyz="0.088726405 0.074392259 -0.0675" rpy="1.5707963 0 -1.5707963" />
    <parent link="link_torso_bottom_left_1" />
    <child link="link_torso_bottom_half_right_1" />
    </joint>
  <link name="link_back_plate_lower_section_1">
    <visual>
      <origin xyz="0 0 0" rpy="0 0 0" />
      <geometry>
        <mesh filename="./meshes/back_plate_lower_section_1_simple.stl" />
        </geometry>
      <material name="link_back_plate_lower_section_1_material">
        <color rgba="0.97254902 0.52941176 0.0039215686 1" />
        </material>
      </visual>
    <collision>
      <origin xyz="0 0 0" rpy="0 0 0" />
      <geometry>
        <mesh filename="./meshes/back_plate_lower_section_1_simple.stl" />
        </geometry>
      </collision>
    <inertial>
      <mass value="0.28879992" />
      <inertia ixx="0.00090059931" iyy="0.0013486015" izz="0.0022070793" ixy="0" ixz="0" iyz="-5.1540223e-05" />
      <origin xyz="0.088819191 -0.00059776261 -0.013413402" rpy="3.1415925 -0.00022426108 3.141586" />
      </inertial>
    </link>
  <joint name="joint_fastened_2" type="fixed">
    <origin xyz="0 0 -0.135" rpy="0 0 0" />
    <parent link="link_torso_bottom_left_1" />
    <child link="link_back_plate_lower_section_1" />
    </joint>
  <link name="link_robot_side_connector_1">
    <visual>
      <origin xyz="0 0 0" rpy="0 0 0" />
      <geometry>
        <mesh filename="./meshes/robot_side_connector_1_simple.stl" />
        </geometry>
      <material name="link_robot_side_connector_1_material">
        <color rgba="0.61568627 0.81176471 0.92941176 1" />
        </material>
      </visual>
    <collision>
      <origin xyz="0 0 0" rpy="0 0 0" />
      <geometry>
        <mesh filename="./meshes/robot_side_connector_1_simple.stl" />
        </geometry>
      </collision>
    <inertial>
      <mass value="0.0092367364" />
      <inertia ixx="1.5800622e-06" iyy="2.4137235e-06" izz="1.5900155e-06" ixy="0" ixz="0" iyz="0" />
      <origin xyz="-0.018 0.0054170071 0.0088167221" rpy="1.8107026 0 1.5707963" />
      </inertial>
    </link>
  <joint name="joint_fastened_7" type="fixed">
    <origin xyz="0.070726405 0.043459259 -0.0063" rpy="3.1415927 0 3.1415927" />
    <parent link="link_torso_bottom_left_1" />
    <child link="link_robot_side_connector_1" />
    </joint>
  <link name="link_left_arm_1_shoulder_1">
    <visual>
      <origin xyz="0 0 0" rpy="0 0 0" />
      <geometry>
        <mesh filename="./meshes/left_arm_1_shoulder_1_simple.stl" />
        </geometry>
      <material name="link_left_arm_1_shoulder_1_material">
        <color rgba="0.97254902 0.52941176 0.0039215686 1" />
        </material>
      </visual>
    <collision>
      <origin xyz="0 0 0" rpy="0 0 0" />
      <geometry>
        <mesh filename="./meshes/left_arm_1_shoulder_1_simple.stl" />
        </geometry>
      </collision>
    <inertial>
      <mass value="0.61456675" />
      <inertia ixx="0.0011736791" iyy="0.001760988" izz="0.0014309867" ixy="0.00013866521" ixz="0.00022284171" iyz="-8.0033741e-05" />
      <origin xyz="-0.018904716 -0.0091632833 0.06679915" rpy="2.407695 8.8012944e-06 2.4077603" />
      </inertial>
    </link>
  <joint name="joint_fastened_42" type="fixed">
    <origin xyz="0.012727922 -0.012727922 -0.0395" rpy="3.1415927 0 0" />
    <parent link="link_robstride_04_mock_2_rs_04_rotor_1" />
    <child link="link_left_arm_1_shoulder_1" />
    </joint>
  <link name="link_head_assembly_1_camera_2_board_1">
    <visual>
      <origin xyz="0 0 0" rpy="0 0 0" />
      <geometry>
        <mesh filename="./meshes/head_assembly_1_camera_2_board_1_simple.stl" />
        </geometry>
      <material name="link_head_assembly_1_camera_2_board_1_material">
        <color rgba="0 0.50196078 0 1" />
        </material>
      </visual>
    <collision>
      <origin xyz="0 0 0" rpy="0 0 0" />
      <geometry>
        <mesh filename="./meshes/head_assembly_1_camera_2_board_1_simple.stl" />
        </geometry>
      </collision>
    <inertial>
      <mass value="0.0025890113" />
      <inertia ixx="0" iyy="0" izz="0" ixy="0" ixz="0" iyz="0" />
      <origin xyz="-0.01698703 0.017014974 -0.00079999967" rpy="3.1415927 0 0" />
      </inertial>
    </link>
  <joint name="joint_head_assembly_1_fastened_4" type="fixed">
    <origin xyz="0.084018 -0.02 0.037018" rpy="-1.5707963 0 0" />
    <parent link="link_head_assembly_1_camera_mount_1" />
    <child link="link_head_assembly_1_camera_2_board_1" />
    </joint>
  <link name="link_head_assembly_1_camera_1_board_1">
    <visual>
      <origin xyz="0 0 0" rpy="0 0 0" />
      <geometry>
        <mesh filename="./meshes/head_assembly_1_camera_1_board_1_simple.stl" />
        </geometry>
      <material name="link_head_assembly_1_camera_1_board_1_material">
        <color rgba="0 0.50196078 0 1" />
        </material>
      </visual>
    <collision>
      <origin xyz="0 0 0" rpy="0 0 0" />
      <geometry>
        <mesh filename="./meshes/head_assembly_1_camera_1_board_1_simple.stl" />
        </geometry>
      </collision>
    <inertial>
      <mass value="0.0025890113" />
      <inertia ixx="0" iyy="0" izz="0" ixy="0" ixz="0" iyz="0" />
      <origin xyz="0.01704897 -0.017021026 -0.00079999967" rpy="3.1415927 0 0" />
      </inertial>
    </link>
  <joint name="joint_head_assembly_1_fastened_5" type="fixed">
    <origin xyz="-0.052018 -0.02 0.037018" rpy="-1.5707963 1.5707963 0" />
    <parent link="link_head_assembly_1_camera_mount_1" />
    <child link="link_head_assembly_1_camera_1_board_1" />
    </joint>
  <link name="link_right_arm_1_shoulder_1">
    <visual>
      <origin xyz="0 0 0" rpy="0 0 0" />
      <geometry>
        <mesh filename="./meshes/right_arm_1_shoulder_1_simple.stl" />
        </geometry>
      <material name="link_right_arm_1_shoulder_1_material">
        <color rgba="0.97254902 0.52941176 0.0039215686 1" />
        </material>
      </visual>
    <collision>
      <origin xyz="0 0 0" rpy="0 0 0" />
      <geometry>
        <mesh filename="./meshes/right_arm_1_shoulder_1_simple.stl" />
        </geometry>
      </collision>
    <inertial>
      <mass value="0.61456675" />
      <inertia ixx="0.0015596464" iyy="0.001760988" izz="0.0010450195" ixy="0" ixz="0" iyz="0.00016010447" />
      <origin xyz="-0.0046574135 0.024518245 -0.06679915" rpy="1.3604975 -9.1289906e-05 1.7811657" />
      </inertial>
    </link>
  <joint name="joint_fastened_27" type="fixed">
    <origin xyz="0.0046587428 -0.017386665 -0.0395" rpy="0 0 0" />
    <parent link="link_robstride_04_mock_1_rs_04_rotor_1" />
    <child link="link_right_arm_1_shoulder_1" />
    </joint>
  <link name="link_removable_cap_1">
    <visual>
      <origin xyz="0 0 0" rpy="0 0 0" />
      <geometry>
        <mesh filename="./meshes/removable_cap_1_simple.stl" />
        </geometry>
      <material name="link_removable_cap_1_material">
        <color rgba="0.61568627 0.81176471 0.92941176 1" />
        </material>
      </visual>
    <collision>
      <origin xyz="0 0 0" rpy="0 0 0" />
      <geometry>
        <mesh filename="./meshes/removable_cap_1_simple.stl" />
        </geometry>
      </collision>
    <inertial>
      <mass value="0.27956099" />
      <inertia ixx="0.00054243035" iyy="0.00070951242" izz="0.00032742126" ixy="0" ixz="0" iyz="-1.3057599e-06" />
      <origin xyz="-0.0040000064 0.01551137 -0.070737853" rpy="-1.0496504 1.5707959 0.51772856" />
      </inertial>
    </link>
  <joint name="joint_fastened_8" type="fixed">
    <origin xyz="-0.014 0.001 0.00315" rpy="3.1415927 0 0" />
    <parent link="link_robot_side_connector_1" />
    <child link="link_removable_cap_1" />
    </joint>
  <link name="link_left_arm_1_washer_m4_1">
    <visual>
      <origin xyz="0 0 0" rpy="0 0 0" />
      <geometry>
        <mesh filename="./meshes/left_arm_1_washer_m4_1_simple.stl" />
        </geometry>
      <material name="link_left_arm_1_washer_m4_1_material">
        <color rgba="0.75294118 0.75294118 0.75294118 1" />
        </material>
      </visual>
    <collision>
      <origin xyz="0 0 0" rpy="0 0 0" />
      <geometry>
        <mesh filename="./meshes/left_arm_1_washer_m4_1_simple.stl" />
        </geometry>
      </collision>
    <inertial>
      <mass value="4.5615925e-05" />
      <inertia ixx="0" iyy="0" izz="0" ixy="0" ixz="0" iyz="0" />
      <origin xyz="0 0 0.0004" rpy="0 0 0" />
      </inertial>
    </link>
  <joint name="joint_left_arm_1_fastened_1" type="fixed">
    <origin xyz="-0.03100864 -0.016391055 0.078429298" rpy="-1.5707963 0 -2.0943951" />
    <parent link="link_left_arm_1_shoulder_1" />
    <child link="link_left_arm_1_washer_m4_1" />
    </joint>
  <link name="link_head_assembly_1_camera_2_lens_1">
    <visual>
      <origin xyz="0 0 0" rpy="0 0 0" />
      <geometry>
        <mesh filename="./meshes/head_assembly_1_camera_2_lens_1_simple.stl" />
        </geometry>
      <material name="link_head_assembly_1_camera_2_lens_1_material">
        <color rgba="0.64705882 0.64705882 0.64705882 1" />
        </material>
      </visual>
    <collision>
      <origin xyz="0 0 0" rpy="0 0 0" />
      <geometry>
        <mesh filename="./meshes/head_assembly_1_camera_2_lens_1_simple.stl" />
        </geometry>
      </collision>
    <inertial>
      <mass value="0.003823064" />
      <inertia ixx="0" iyy="0" izz="0" ixy="0" ixz="0" iyz="0" />
      <origin xyz="0 1.3817029e-05 -0.0083902766" rpy="-1.5707383 0 -1.5707963" />
      </inertial>
    </link>
  <joint name="joint_head_assembly_1_camera_2_fastened_1" type="fixed">
    <origin xyz="-0.01698703 0.017014974 -0.0015999993" rpy="0 0 0" />
    <parent link="link_head_assembly_1_camera_2_board_1" />
    <child link="link_head_assembly_1_camera_2_lens_1" />
    </joint>
  <link name="link_head_assembly_1_camera_1_lens_1">
    <visual>
      <origin xyz="0 0 0" rpy="0 0 0" />
      <geometry>
        <mesh filename="./meshes/head_assembly_1_camera_1_lens_1_simple.stl" />
        </geometry>
      <material name="link_head_assembly_1_camera_1_lens_1_material">
        <color rgba="0.64705882 0.64705882 0.64705882 1" />
        </material>
      </visual>
    <collision>
      <origin xyz="0 0 0" rpy="0 0 0" />
      <geometry>
        <mesh filename="./meshes/head_assembly_1_camera_1_lens_1_simple.stl" />
        </geometry>
      </collision>
    <inertial>
      <mass value="0.003823064" />
      <inertia ixx="0" iyy="0" izz="0" ixy="0" ixz="0" iyz="0" />
      <origin xyz="0 1.3817029e-05 -0.0083902766" rpy="-1.5707383 0 -1.5707963" />
      </inertial>
    </link>
  <joint name="joint_head_assembly_1_camera_1_fastened_1" type="fixed">
    <origin xyz="0.01704897 -0.017021026 -0.0015999993" rpy="0 0 0" />
    <parent link="link_head_assembly_1_camera_1_board_1" />
    <child link="link_head_assembly_1_camera_1_lens_1" />
    </joint>
  <link name="link_right_arm_1_washer_m4_3">
    <visual>
      <origin xyz="0 0 0" rpy="0 0 0" />
      <geometry>
        <mesh filename="./meshes/right_arm_1_washer_m4_3_simple.stl" />
        </geometry>
      <material name="link_right_arm_1_washer_m4_3_material">
        <color rgba="0.75294118 0.75294118 0.75294118 1" />
        </material>
      </visual>
    <collision>
      <origin xyz="0 0 0" rpy="0 0 0" />
      <geometry>
        <mesh filename="./meshes/right_arm_1_washer_m4_3_simple.stl" />
        </geometry>
      </collision>
    <inertial>
      <mass value="4.5615925e-05" />
      <inertia ixx="0" iyy="0" izz="0" ixy="0" ixz="0" iyz="0" />
      <origin xyz="0 0 0.0004" rpy="0 0 0" />
      </inertial>
    </link>
  <joint name="joint_right_arm_1_fastened_12" type="fixed">
    <origin xyz="0.0076539823 0.031386665 -0.078429298" rpy="1.5707963 0 0" />
    <parent link="link_right_arm_1_shoulder_1" />
    <child link="link_right_arm_1_washer_m4_3" />
    </joint>
  <link name="link_main_case_section_1">
    <visual>
      <origin xyz="0 0 0" rpy="0 0 0" />
      <geometry>
        <mesh filename="./meshes/main_case_section_1_simple.stl" />
        </geometry>
      <material name="link_main_case_section_1_material">
        <color rgba="0.61568627 0.81176471 0.92941176 1" />
        </material>
      </visual>
    <collision>
      <origin xyz="0 0 0" rpy="0 0 0" />
      <geometry>
        <mesh filename="./meshes/main_case_section_1_simple.stl" />
        </geometry>
      </collision>
    <inertial>
      <mass value="1.3782715" />
      <inertia ixx="0.0080610905" iyy="0.0069081306" izz="0.0032809871" ixy="0" ixz="0" iyz="-0.00015764622" />
      <origin xyz="-3.12099e-06 0.058644644 -0.14779778" rpy="-1.5074579 -1.5705897 -1.5907808" />
      </inertial>
    </link>
  <joint name="joint_fastened_9" type="fixed">
    <origin xyz="-0.004 0.0465 -0.12135" rpy="1.5707963 0 0" />
    <parent link="link_removable_cap_1" />
    <child link="link_main_case_section_1" />
    </joint>
  <link name="link_left_arm_1_robstride_01_mock_1_rs_01_stator_1">
    <visual>
      <origin xyz="0 0 0" rpy="0 0 0" />
      <geometry>
        <mesh filename="./meshes/left_arm_1_robstride_01_mock_1_rs_01_stator_1_simple.stl" />
        </geometry>
      <material name="link_left_arm_1_robstride_01_mock_1_rs_01_stator_1_material">
        <color rgba="0.61568627 0.81176471 0.92941176 1" />
        </material>
      </visual>
    <collision>
      <origin xyz="0 0 0" rpy="0 0 0" />
      <geometry>
        <mesh filename="./meshes/left_arm_1_robstride_01_mock_1_rs_01_stator_1_simple.stl" />
        </geometry>
      </collision>
    <inertial>
      <mass value="0.34790535" />
      <inertia ixx="0.00017729433" iyy="0.00017583919" izz="0.00027827575" ixy="0" ixz="0" iyz="0" />
      <origin xyz="-0.012658427 -0.034108418 0.010580484" rpy="-0.00020475768 1.5635875 3.1354067" />
      </inertial>
    </link>
  <joint name="joint_left_arm_1_fastened_16" type="fixed">
    <origin xyz="0 0 0.0008" rpy="0 0 0" />
    <parent link="link_left_arm_1_washer_m4_1" />
    <child link="link_left_arm_1_robstride_01_mock_1_rs_01_stator_1" />
    </joint>
  <link name="link_right_arm_1_robstride_01_mock_1_rs_01_stator_1">
    <visual>
      <origin xyz="0 0 0" rpy="0 0 0" />
      <geometry>
        <mesh filename="./meshes/right_arm_1_robstride_01_mock_1_rs_01_stator_1_simple.stl" />
        </geometry>
      <material name="link_right_arm_1_robstride_01_mock_1_rs_01_stator_1_material">
        <color rgba="0.61568627 0.81176471 0.92941176 1" />
        </material>
      </visual>
    <collision>
      <origin xyz="0 0 0" rpy="0 0 0" />
      <geometry>
        <mesh filename="./meshes/right_arm_1_robstride_01_mock_1_rs_01_stator_1_simple.stl" />
        </geometry>
      </collision>
    <inertial>
      <mass value="0.34790535" />
      <inertia ixx="0.00017729433" iyy="0.00017583919" izz="0.00027827575" ixy="0" ixz="0" iyz="0" />
      <origin xyz="-0.012658427 -0.034108418 0.010580484" rpy="-0.00020475768 1.5635875 3.1354067" />
      </inertial>
    </link>
  <joint name="joint_right_arm_1_fastened_16" type="fixed">
    <origin xyz="0 0 0.0008" rpy="0 0 0" />
    <parent link="link_right_arm_1_washer_m4_3" />
    <child link="link_right_arm_1_robstride_01_mock_1_rs_01_stator_1" />
    </joint>
  <link name="link_left_arm_1_robstride_01_mock_1_rs_01_rotor_1">
    <visual>
      <origin xyz="0 0 0" rpy="0 0 0" />
      <geometry>
        <mesh filename="./meshes/left_arm_1_robstride_01_mock_1_rs_01_rotor_1_simple.stl" />
        </geometry>
      <material name="link_left_arm_1_robstride_01_mock_1_rs_01_rotor_1_material">
        <color rgba="0.64705882 0.64705882 0.64705882 1" />
        </material>
      </visual>
    <collision>
      <origin xyz="0 0 0" rpy="0 0 0" />
      <geometry>
        <mesh filename="./meshes/left_arm_1_robstride_01_mock_1_rs_01_rotor_1_simple.stl" />
        </geometry>
      </collision>
    <inertial>
      <mass value="0.032" />
      <inertia ixx="4.5591154e-06" iyy="4.5575352e-06" izz="4.1553172e-06" ixy="0" ixz="0" iyz="0" />
      <origin xyz="-7.9372476e-05 -7.648864e-05 -0.01525" rpy="3.1415927 0.76689767 -1.5707963" />
      </inertial>
    </link>
  <joint name="left shoulder yaw" type="revolute">
    <origin xyz="-0.012659308 -0.034234368 0.0015" rpy="3.1415927 0 0" />
    <parent link="link_left_arm_1_robstride_01_mock_1_rs_01_stator_1" />
    <child link="link_left_arm_1_robstride_01_mock_1_rs_01_rotor_1" />
    <limit effort="80" velocity="5" lower="-1.3089969" upper="1.8762289" />
    <axis xyz="0 0 -1" />
    </joint>
  <link name="link_right_arm_1_robstride_01_mock_1_rs_01_rotor_1">
    <visual>
      <origin xyz="0 0 0" rpy="0 0 0" />
      <geometry>
        <mesh filename="./meshes/right_arm_1_robstride_01_mock_1_rs_01_rotor_1_simple.stl" />
        </geometry>
      <material name="link_right_arm_1_robstride_01_mock_1_rs_01_rotor_1_material">
        <color rgba="0.64705882 0.64705882 0.64705882 1" />
        </material>
      </visual>
    <collision>
      <origin xyz="0 0 0" rpy="0 0 0" />
      <geometry>
        <mesh filename="./meshes/right_arm_1_robstride_01_mock_1_rs_01_rotor_1_simple.stl" />
        </geometry>
      </collision>
    <inertial>
      <mass value="0.032" />
      <inertia ixx="4.5591154e-06" iyy="4.5575352e-06" izz="4.1553172e-06" ixy="0" ixz="0" iyz="0" />
      <origin xyz="-7.9372476e-05 -7.648864e-05 -0.01525" rpy="3.1415927 0.76689767 -1.5707963" />
      </inertial>
    </link>
  <joint name="right shoulder yaw" type="revolute">
    <origin xyz="-0.012659308 -0.034234368 0.0015" rpy="3.1415927 0 0" />
    <parent link="link_right_arm_1_robstride_01_mock_1_rs_01_stator_1" />
    <child link="link_right_arm_1_robstride_01_mock_1_rs_01_rotor_1" />
    <limit effort="80" velocity="5" lower="-1.3089969" upper="1.8325957" />
    <axis xyz="0 0 -1" />
    </joint>
  <link name="link_left_arm_1_left_arm_part_1a_1">
    <visual>
      <origin xyz="0 0 0" rpy="0 0 0" />
      <geometry>
        <mesh filename="./meshes/left_arm_1_left_arm_part_1a_1_simple.stl" />
        </geometry>
      <material name="link_left_arm_1_left_arm_part_1a_1_material">
        <color rgba="0.97254902 0.52941176 0.0039215686 1" />
        </material>
      </visual>
    <collision>
      <origin xyz="0 0 0" rpy="0 0 0" />
      <geometry>
        <mesh filename="./meshes/left_arm_1_left_arm_part_1a_1_simple.stl" />
        </geometry>
      </collision>
    <inertial>
      <mass value="0.40154625" />
      <inertia ixx="0.0007271003" iyy="0.00053343486" izz="0.00097913846" ixy="7.6622927e-05" ixz="3.8274362e-05" iyz="-0.00010901997" />
      <origin xyz="0.014378704 -0.065401379 0.011095478" rpy="2.9142296 -0.0079082335 -1.2941607" />
      </inertial>
    </link>
  <joint name="joint_left_arm_1_fastened_4" type="fixed">
    <origin xyz="0.0028908681 -0.011646582 -0.0305" rpy="3.1415927 0 0" />
    <parent link="link_left_arm_1_robstride_01_mock_1_rs_01_rotor_1" />
    <child link="link_left_arm_1_left_arm_part_1a_1" />
    </joint>
  <link name="link_right_arm_1_right_arm_part_1a_1">
    <visual>
      <origin xyz="0 0 0" rpy="0 0 0" />
      <geometry>
        <mesh filename="./meshes/right_arm_1_right_arm_part_1a_1_simple.stl" />
        </geometry>
      <material name="link_right_arm_1_right_arm_part_1a_1_material">
        <color rgba="0.97254902 0.52941176 0.0039215686 1" />
        </material>
      </visual>
    <collision>
      <origin xyz="0 0 0" rpy="0 0 0" />
      <geometry>
        <mesh filename="./meshes/right_arm_1_right_arm_part_1a_1_simple.stl" />
        </geometry>
      </collision>
    <inertial>
      <mass value="0.38933182" />
      <inertia ixx="0.00071901049" iyy="0.00053464047" izz="0.0009785123" ixy="7.8537308e-05" ixz="3.9393652e-05" iyz="-0.00011340311" />
      <origin xyz="0.014346923 -0.064623282 0.010737388" rpy="2.906557 -0.0027148931 -1.3095368" />
      </inertial>
    </link>
  <joint name="joint_right_arm_1_fastened_2" type="fixed">
    <origin xyz="0.0028908681 -0.011646582 -0.0305" rpy="3.1415927 0 0" />
    <parent link="link_right_arm_1_robstride_01_mock_1_rs_01_rotor_1" />
    <child link="link_right_arm_1_right_arm_part_1a_1" />
    </joint>
  <link name="link_left_arm_1_washer_m4_11">
    <visual>
      <origin xyz="0 0 0" rpy="0 0 0" />
      <geometry>
        <mesh filename="./meshes/left_arm_1_washer_m4_11_simple.stl" />
        </geometry>
      <material name="link_left_arm_1_washer_m4_11_material">
        <color rgba="0.75294118 0.75294118 0.75294118 1" />
        </material>
      </visual>
    <collision>
      <origin xyz="0 0 0" rpy="0 0 0" />
      <geometry>
        <mesh filename="./meshes/left_arm_1_washer_m4_11_simple.stl" />
        </geometry>
      </collision>
    <inertial>
      <mass value="4.5615925e-05" />
      <inertia ixx="0" iyy="0" izz="0" ixy="0" ixz="0" iyz="0" />
      <origin xyz="0 0 -0.0004" rpy="3.1415927 0 0" />
      </inertial>
    </link>
  <joint name="joint_left_arm_1_fastened_19" type="fixed">
    <origin xyz="0.045202114 -0.086233776 0.0054606222" rpy="-1.5707963 0 0.30543262" />
    <parent link="link_left_arm_1_left_arm_part_1a_1" />
    <child link="link_left_arm_1_washer_m4_11" />
    </joint>
  <link name="link_right_arm_1_washer_m4_10">
    <visual>
      <origin xyz="0 0 0" rpy="0 0 0" />
      <geometry>
        <mesh filename="./meshes/right_arm_1_washer_m4_10_simple.stl" />
        </geometry>
      <material name="link_right_arm_1_washer_m4_10_material">
        <color rgba="0.75294118 0.75294118 0.75294118 1" />
        </material>
      </visual>
    <collision>
      <origin xyz="0 0 0" rpy="0 0 0" />
      <geometry>
        <mesh filename="./meshes/right_arm_1_washer_m4_10_simple.stl" />
        </geometry>
      </collision>
    <inertial>
      <mass value="4.5615925e-05" />
      <inertia ixx="0" iyy="0" izz="0" ixy="0" ixz="0" iyz="0" />
      <origin xyz="0 0 0.0004" rpy="3.1415927 0 0" />
      </inertial>
    </link>
  <joint name="joint_right_arm_1_fastened_3" type="fixed">
    <origin xyz="0.057108064 -0.082479844 -0.028838158" rpy="1.5707963 0 0.30543262" />
    <parent link="link_right_arm_1_right_arm_part_1a_1" />
    <child link="link_right_arm_1_washer_m4_10" />
    </joint>
  <link name="link_right_arm_1_washer_m4_9">
    <visual>
      <origin xyz="0 0 0" rpy="0 0 0" />
      <geometry>
        <mesh filename="./meshes/right_arm_1_washer_m4_9_simple.stl" />
        </geometry>
      <material name="link_right_arm_1_washer_m4_9_material">
        <color rgba="0.75294118 0.75294118 0.75294118 1" />
        </material>
      </visual>
    <collision>
      <origin xyz="0 0 0" rpy="0 0 0" />
      <geometry>
        <mesh filename="./meshes/right_arm_1_washer_m4_9_simple.stl" />
        </geometry>
      </collision>
    <inertial>
      <mass value="4.5615925e-05" />
      <inertia ixx="0" iyy="0" izz="0" ixy="0" ixz="0" iyz="0" />
      <origin xyz="0 0 -0.0004" rpy="0 0 0" />
      </inertial>
    </link>
  <joint name="joint_right_arm_1_fastened_17" type="fixed">
    <origin xyz="0.034732197 -0.089534928 0.011798781" rpy="-1.5707963 0 0.30543262" />
    <parent link="link_right_arm_1_right_arm_part_1a_1" />
    <child link="link_right_arm_1_washer_m4_9" />
    </joint>
  <link name="link_right_arm_1_washer_m4_8">
    <visual>
      <origin xyz="0 0 0" rpy="0 0 0" />
      <geometry>
        <mesh filename="./meshes/right_arm_1_washer_m4_8_simple.stl" />
        </geometry>
      <material name="link_right_arm_1_washer_m4_8_material">
        <color rgba="0.75294118 0.75294118 0.75294118 1" />
        </material>
      </visual>
    <collision>
      <origin xyz="0 0 0" rpy="0 0 0" />
      <geometry>
        <mesh filename="./meshes/right_arm_1_washer_m4_8_simple.stl" />
        </geometry>
      </collision>
    <inertial>
      <mass value="4.5615925e-05" />
      <inertia ixx="0" iyy="0" izz="0" ixy="0" ixz="0" iyz="0" />
      <origin xyz="0 0 0.0004" rpy="3.1415927 0 0" />
      </inertial>
    </link>
  <joint name="joint_right_arm_1_fastened_18" type="fixed">
    <origin xyz="0.010920297 -0.097042791 0.011798781" rpy="1.5707963 0 0.30543262" />
    <parent link="link_right_arm_1_right_arm_part_1a_1" />
    <child link="link_right_arm_1_washer_m4_8" />
    </joint>
  <link name="link_right_arm_1_washer_m4_7">
    <visual>
      <origin xyz="0 0 0" rpy="0 0 0" />
      <geometry>
        <mesh filename="./meshes/right_arm_1_washer_m4_7_simple.stl" />
        </geometry>
      <material name="link_right_arm_1_washer_m4_7_material">
        <color rgba="0.75294118 0.75294118 0.75294118 1" />
        </material>
      </visual>
    <collision>
      <origin xyz="0 0 0" rpy="0 0 0" />
      <geometry>
        <mesh filename="./meshes/right_arm_1_washer_m4_7_simple.stl" />
        </geometry>
      </collision>
    <inertial>
      <mass value="4.5615925e-05" />
      <inertia ixx="0" iyy="0" izz="0" ixy="0" ixz="0" iyz="0" />
      <origin xyz="0 0 0.0004" rpy="3.1415927 0 0" />
      </inertial>
    </link>
  <joint name="joint_right_arm_1_fastened_19" type="fixed">
    <origin xyz="-0.011455569 -0.10409787 -0.028838158" rpy="1.5707963 0 0.30543262" />
    <parent link="link_right_arm_1_right_arm_part_1a_1" />
    <child link="link_right_arm_1_washer_m4_7" />
    </joint>
  <link name="link_left_arm_1_robstride_01_mock_2_rs_01_stator_1">
    <visual>
      <origin xyz="0 0 0" rpy="0 0 0" />
      <geometry>
        <mesh filename="./meshes/left_arm_1_robstride_01_mock_2_rs_01_stator_1_simple.stl" />
        </geometry>
      <material name="link_left_arm_1_robstride_01_mock_2_rs_01_stator_1_material">
        <color rgba="0.61568627 0.81176471 0.92941176 1" />
        </material>
      </visual>
    <collision>
      <origin xyz="0 0 0" rpy="0 0 0" />
      <geometry>
        <mesh filename="./meshes/left_arm_1_robstride_01_mock_2_rs_01_stator_1_simple.stl" />
        </geometry>
      </collision>
    <inertial>
      <mass value="0.34790535" />
      <inertia ixx="0.00017729433" iyy="0.00017583919" izz="0.00027827575" ixy="0" ixz="0" iyz="0" />
      <origin xyz="0.023605582 -0.027965994 -0.010580484" rpy="3.1413879 -1.5635875 -3.1354067" />
      </inertial>
    </link>
  <joint name="joint_left_arm_1_fastened_21" type="fixed">
    <origin xyz="0 0 -0.0008" rpy="0 0 3.1415927" />
    <parent link="link_left_arm_1_washer_m4_11" />
    <child link="link_left_arm_1_robstride_01_mock_2_rs_01_stator_1" />
    </joint>
  <link name="link_right_arm_1_robstride_01_mock_3_rs_01_stator_1">
    <visual>
      <origin xyz="0 0 0" rpy="0 0 0" />
      <geometry>
        <mesh filename="./meshes/right_arm_1_robstride_01_mock_3_rs_01_stator_1_simple.stl" />
        </geometry>
      <material name="link_right_arm_1_robstride_01_mock_3_rs_01_stator_1_material">
        <color rgba="0.61568627 0.81176471 0.92941176 1" />
        </material>
      </visual>
    <collision>
      <origin xyz="0 0 0" rpy="0 0 0" />
      <geometry>
        <mesh filename="./meshes/right_arm_1_robstride_01_mock_3_rs_01_stator_1_simple.stl" />
        </geometry>
      </collision>
    <inertial>
      <mass value="0.34790535" />
      <inertia ixx="0.00017729433" iyy="0.00017583919" izz="0.00027827575" ixy="0" ixz="0" iyz="0" />
      <origin xyz="-0.012658427 -0.034108418 0.010580484" rpy="-0.00020475768 1.5635875 3.1354067" />
      </inertial>
    </link>
  <joint name="joint_right_arm_1_fastened_21" type="fixed">
    <origin xyz="0 0 -0.0008" rpy="3.1415927 0 0" />
    <parent link="link_right_arm_1_washer_m4_9" />
    <child link="link_right_arm_1_robstride_01_mock_3_rs_01_stator_1" />
    </joint>
  <link name="link_left_arm_1_washer_m4_7">
    <visual>
      <origin xyz="0 0 0" rpy="0 0 0" />
      <geometry>
        <mesh filename="./meshes/left_arm_1_washer_m4_7_simple.stl" />
        </geometry>
      <material name="link_left_arm_1_washer_m4_7_material">
        <color rgba="0.75294118 0.75294118 0.75294118 1" />
        </material>
      </visual>
    <collision>
      <origin xyz="0 0 0" rpy="0 0 0" />
      <geometry>
        <mesh filename="./meshes/left_arm_1_washer_m4_7_simple.stl" />
        </geometry>
      </collision>
    <inertial>
      <mass value="4.5615925e-05" />
      <inertia ixx="0" iyy="0" izz="0" ixy="0" ixz="0" iyz="0" />
      <origin xyz="0 0 -0.0004" rpy="3.1415927 0 0" />
      </inertial>
    </link>
  <joint name="joint_left_arm_1_fastened_22" type="fixed">
    <origin xyz="0.036264009 -0.062074412 0" rpy="3.1415927 0 3.1415927" />
    <parent link="link_left_arm_1_robstride_01_mock_2_rs_01_stator_1" />
    <child link="link_left_arm_1_washer_m4_7" />
    </joint>
  <link name="link_left_arm_1_robstride_01_mock_2_rs_01_rotor_1">
    <visual>
      <origin xyz="0 0 0" rpy="0 0 0" />
      <geometry>
        <mesh filename="./meshes/left_arm_1_robstride_01_mock_2_rs_01_rotor_1_simple.stl" />
        </geometry>
      <material name="link_left_arm_1_robstride_01_mock_2_rs_01_rotor_1_material">
        <color rgba="0.64705882 0.64705882 0.64705882 1" />
        </material>
      </visual>
    <collision>
      <origin xyz="0 0 0" rpy="0 0 0" />
      <geometry>
        <mesh filename="./meshes/left_arm_1_robstride_01_mock_2_rs_01_rotor_1_simple.stl" />
        </geometry>
      </collision>
    <inertial>
      <mass value="0.032" />
      <inertia ixx="4.5591154e-06" iyy="4.5575352e-06" izz="4.1553172e-06" ixy="0" ixz="0" iyz="0" />
      <origin xyz="-7.9372476e-05 -7.648864e-05 -0.01525" rpy="3.1415927 0.76689767 -1.5707963" />
      </inertial>
    </link>
  <joint name="left shoulder roll" type="revolute">
    <origin xyz="0.023604701 -0.027840044 -0.0015" rpy="0 0 0" />
    <parent link="link_left_arm_1_robstride_01_mock_2_rs_01_stator_1" />
    <child link="link_left_arm_1_robstride_01_mock_2_rs_01_rotor_1" />
    <limit effort="80" velocity="5" lower="-1.2740904" upper="1.8325957" />
    <axis xyz="0 0 -1" />
    </joint>
  <link name="link_right_arm_1_washer_m4_12">
    <visual>
      <origin xyz="0 0 0" rpy="0 0 0" />
      <geometry>
        <mesh filename="./meshes/right_arm_1_washer_m4_12_simple.stl" />
        </geometry>
      <material name="link_right_arm_1_washer_m4_12_material">
        <color rgba="0.75294118 0.75294118 0.75294118 1" />
        </material>
      </visual>
    <collision>
      <origin xyz="0 0 0" rpy="0 0 0" />
      <geometry>
        <mesh filename="./meshes/right_arm_1_washer_m4_12_simple.stl" />
        </geometry>
      </collision>
    <inertial>
      <mass value="4.5615925e-05" />
      <inertia ixx="0" iyy="0" izz="0" ixy="0" ixz="0" iyz="0" />
      <origin xyz="0 0 -0.0004" rpy="3.1415927 0 0" />
      </inertial>
    </link>
  <joint name="joint_right_arm_1_fastened_22" type="fixed">
    <origin xyz="0.010658871 -0.062314834 0" rpy="0 0 0" />
    <parent link="link_right_arm_1_robstride_01_mock_3_rs_01_stator_1" />
    <child link="link_right_arm_1_washer_m4_12" />
    </joint>
  <link name="link_right_arm_1_robstride_01_mock_3_rs_01_rotor_1">
    <visual>
      <origin xyz="0 0 0" rpy="0 0 0" />
      <geometry>
        <mesh filename="./meshes/right_arm_1_robstride_01_mock_3_rs_01_rotor_1_simple.stl" />
        </geometry>
      <material name="link_right_arm_1_robstride_01_mock_3_rs_01_rotor_1_material">
        <color rgba="0.64705882 0.64705882 0.64705882 1" />
        </material>
      </visual>
    <collision>
      <origin xyz="0 0 0" rpy="0 0 0" />
      <geometry>
        <mesh filename="./meshes/right_arm_1_robstride_01_mock_3_rs_01_rotor_1_simple.stl" />
        </geometry>
      </collision>
    <inertial>
      <mass value="0.032" />
      <inertia ixx="4.5591154e-06" iyy="4.5575352e-06" izz="4.1553172e-06" ixy="0" ixz="0" iyz="0" />
      <origin xyz="-7.9372476e-05 -7.648864e-05 -0.01525" rpy="3.1415927 0.76689767 -1.5707963" />
      </inertial>
    </link>
  <joint name="right shoulder roll" type="revolute">
    <origin xyz="-0.012659308 -0.034234368 0.0015" rpy="3.1415927 0 0" />
    <parent link="link_right_arm_1_robstride_01_mock_3_rs_01_stator_1" />
    <child link="link_right_arm_1_robstride_01_mock_3_rs_01_rotor_1" />
    <limit effort="80" velocity="5" lower="-3.3684855" upper="-0.26179939" />
    <axis xyz="0 0 -1" />
    </joint>
  <link name="link_left_arm_1_left_arm_part_1b_1">
    <visual>
      <origin xyz="0 0 0" rpy="0 0 0" />
      <geometry>
        <mesh filename="./meshes/left_arm_1_left_arm_part_1b_1_simple.stl" />
        </geometry>
      <material name="link_left_arm_1_left_arm_part_1b_1_material">
        <color rgba="0.97254902 0.52941176 0.0039215686 1" />
        </material>
      </visual>
    <collision>
      <origin xyz="0 0 0" rpy="0 0 0" />
      <geometry>
        <mesh filename="./meshes/left_arm_1_left_arm_part_1b_1_simple.stl" />
        </geometry>
      </collision>
    <inertial>
      <mass value="0.28803091" />
      <inertia ixx="0.00047227225" iyy="0.0006510983" izz="0.0002384941" ixy="-1.1768311e-06" ixz="-6.3367913e-06" iyz="-3.662411e-05" />
      <origin xyz="0.012860288 0.0075588781 0.032950436" rpy="1.5340192 1.5435416 3.0169735" />
      </inertial>
    </link>
  <joint name="joint_left_arm_1_fastened_5" type="fixed">
    <origin xyz="0 0 -0.0008" rpy="3.1415927 0 0" />
    <parent link="link_left_arm_1_washer_m4_7" />
    <child link="link_left_arm_1_left_arm_part_1b_1" />
    </joint>
  <link name="link_left_arm_1_left_arm_part_2a_1">
    <visual>
      <origin xyz="0 0 0" rpy="0 0 0" />
      <geometry>
        <mesh filename="./meshes/left_arm_1_left_arm_part_2a_1_simple.stl" />
        </geometry>
      <material name="link_left_arm_1_left_arm_part_2a_1_material">
        <color rgba="0.97254902 0.52941176 0.0039215686 1" />
        </material>
      </visual>
    <collision>
      <origin xyz="0 0 0" rpy="0 0 0" />
      <geometry>
        <mesh filename="./meshes/left_arm_1_left_arm_part_2a_1_simple.stl" />
        </geometry>
      </collision>
    <inertial>
      <mass value="0.4651297" />
      <inertia ixx="0.0012813803" iyy="0.00094418113" izz="0.00054688244" ixy="0.00010539314" ixz="-3.1782736e-05" iyz="-7.8725332e-06" />
      <origin xyz="-0.011944156 -0.0035392338 0.056390146" rpy="-3.1382287 -0.2790713 -1.6144076" />
      </inertial>
    </link>
  <joint name="joint_left_arm_1_fastened_7" type="fixed">
    <origin xyz="-0.01153167 0.003319726 -0.0305" rpy="3.1415927 0 0" />
    <parent link="link_left_arm_1_robstride_01_mock_2_rs_01_rotor_1" />
    <child link="link_left_arm_1_left_arm_part_2a_1" />
    </joint>
  <link name="link_left_arm_1_left_arm_part_2b_1">
    <visual>
      <origin xyz="0 0 0" rpy="0 0 0" />
      <geometry>
        <mesh filename="./meshes/left_arm_1_left_arm_part_2b_1_simple.stl" />
        </geometry>
      <material name="link_left_arm_1_left_arm_part_2b_1_material">
        <color rgba="0.97254902 0.52941176 0.0039215686 1" />
        </material>
      </visual>
    <collision>
      <origin xyz="0 0 0" rpy="0 0 0" />
      <geometry>
        <mesh filename="./meshes/left_arm_1_left_arm_part_2b_1_simple.stl" />
        </geometry>
      </collision>
    <inertial>
      <mass value="0.44514759" />
      <inertia ixx="0.0011673198" iyy="0.00085112524" izz="0.00047898586" ixy="0.00010027486" ixz="1.3247558e-05" iyz="-1.9915899e-06" />
      <origin xyz="0.013768767 0.00372048 0.052037826" rpy="3.1246001 -0.2820463 -1.5491107" />
      </inertial>
    </link>
  <joint name="joint_left_arm_1_fastened_8" type="fixed">
    <origin xyz="0.01153167 -0.003319726 -0.0305" rpy="3.1415927 0 0" />
    <parent link="link_left_arm_1_robstride_01_mock_2_rs_01_rotor_1" />
    <child link="link_left_arm_1_left_arm_part_2b_1" />
    </joint>
  <link name="link_right_arm_1_right_arm_part_1b_1">
    <visual>
      <origin xyz="0 0 0" rpy="0 0 0" />
      <geometry>
        <mesh filename="./meshes/right_arm_1_right_arm_part_1b_1_simple.stl" />
        </geometry>
      <material name="link_right_arm_1_right_arm_part_1b_1_material">
        <color rgba="0.97254902 0.52941176 0.0039215686 1" />
        </material>
      </visual>
    <collision>
      <origin xyz="0 0 0" rpy="0 0 0" />
      <geometry>
        <mesh filename="./meshes/right_arm_1_right_arm_part_1b_1_simple.stl" />
        </geometry>
      </collision>
    <inertial>
      <mass value="0.30242788" />
      <inertia ixx="0.00047890701" iyy="0.00065577879" izz="0.00023847931" ixy="0" ixz="1.9368669e-06" iyz="-3.4945664e-05" />
      <origin xyz="-0.023348052 -0.014026626 -0.032003772" rpy="-1.8606024 -1.5620098 -2.7688162" />
      </inertial>
    </link>
  <joint name="joint_right_arm_1_fastened_4" type="fixed">
    <origin xyz="0 0 -0.0008" rpy="0 0 0" />
    <parent link="link_right_arm_1_washer_m4_12" />
    <child link="link_right_arm_1_right_arm_part_1b_1" />
    </joint>
  <link name="link_right_arm_1_rightt_arm_part_2b_1">
    <visual>
      <origin xyz="0 0 0" rpy="0 0 0" />
      <geometry>
        <mesh filename="./meshes/right_arm_1_rightt_arm_part_2b_1_simple.stl" />
        </geometry>
      <material name="link_right_arm_1_rightt_arm_part_2b_1_material">
        <color rgba="0.97254902 0.52941176 0.0039215686 1" />
        </material>
      </visual>
    <collision>
      <origin xyz="0 0 0" rpy="0 0 0" />
      <geometry>
        <mesh filename="./meshes/right_arm_1_rightt_arm_part_2b_1_simple.stl" />
        </geometry>
      </collision>
    <inertial>
      <mass value="0.43643618" />
      <inertia ixx="0.0011405801" iyy="0.00082638966" izz="0.00046502037" ixy="9.3790727e-05" ixz="-1.6286023e-05" iyz="3.2629257e-06" />
      <origin xyz="-0.013965915 0.003561569 -0.052763867" rpy="-0.023051303 0.26814743 -1.5980477" />
      </inertial>
    </link>
  <joint name="joint_right_arm_1_fastened_6" type="fixed">
    <origin xyz="-0.0028908681 0.011646582 -0.0305" rpy="0 0 -1.0471976" />
    <parent link="link_right_arm_1_robstride_01_mock_3_rs_01_rotor_1" />
    <child link="link_right_arm_1_rightt_arm_part_2b_1" />
    </joint>
  <link name="link_left_arm_1_washer_m4_26">
    <visual>
      <origin xyz="0 0 0" rpy="0 0 0" />
      <geometry>
        <mesh filename="./meshes/left_arm_1_washer_m4_26_simple.stl" />
        </geometry>
      <material name="link_left_arm_1_washer_m4_26_material">
        <color rgba="0.75294118 0.75294118 0.75294118 1" />
        </material>
      </visual>
    <collision>
      <origin xyz="0 0 0" rpy="0 0 0" />
      <geometry>
        <mesh filename="./meshes/left_arm_1_washer_m4_26_simple.stl" />
        </geometry>
      </collision>
    <inertial>
      <mass value="4.5615925e-05" />
      <inertia ixx="0" iyy="0" izz="0" ixy="0" ixz="0" iyz="0" />
      <origin xyz="0 0 0.0004" rpy="3.1415927 0 3.1415927" />
      </inertial>
    </link>
  <joint name="joint_left_arm_1_fastened_35" type="fixed">
    <origin xyz="0.00076282533 -0.012771129 0.050701219" rpy="1.5707963 0 1.8510962" />
    <parent link="link_left_arm_1_left_arm_part_2a_1" />
    <child link="link_left_arm_1_washer_m4_26" />
    </joint>
  <link name="link_right_arm_1_washer_m4_11">
    <visual>
      <origin xyz="0 0 0" rpy="0 0 0" />
      <geometry>
        <mesh filename="./meshes/right_arm_1_washer_m4_11_simple.stl" />
        </geometry>
      <material name="link_right_arm_1_washer_m4_11_material">
        <color rgba="0.75294118 0.75294118 0.75294118 1" />
        </material>
      </visual>
    <collision>
      <origin xyz="0 0 0" rpy="0 0 0" />
      <geometry>
        <mesh filename="./meshes/right_arm_1_washer_m4_11_simple.stl" />
        </geometry>
      </collision>
    <inertial>
      <mass value="4.5615925e-05" />
      <inertia ixx="0" iyy="0" izz="0" ixy="0" ixz="0" iyz="0" />
      <origin xyz="0 0 0.0004" rpy="3.1415927 0 0" />
      </inertial>
    </link>
  <joint name="joint_right_arm_1_fastened_20" type="fixed">
    <origin xyz="-0.046923496 0 0" rpy="0 0 0" />
    <parent link="link_right_arm_1_right_arm_part_1b_1" />
    <child link="link_right_arm_1_washer_m4_11" />
    </joint>
  <link name="link_right_arm_1_washer_m4_18">
    <visual>
      <origin xyz="0 0 0" rpy="0 0 0" />
      <geometry>
        <mesh filename="./meshes/right_arm_1_washer_m4_18_simple.stl" />
        </geometry>
      <material name="link_right_arm_1_washer_m4_18_material">
        <color rgba="0.75294118 0.75294118 0.75294118 1" />
        </material>
      </visual>
    <collision>
      <origin xyz="0 0 0" rpy="0 0 0" />
      <geometry>
        <mesh filename="./meshes/right_arm_1_washer_m4_18_simple.stl" />
        </geometry>
      </collision>
    <inertial>
      <mass value="4.5615925e-05" />
      <inertia ixx="0" iyy="0" izz="0" ixy="0" ixz="0" iyz="0" />
      <origin xyz="0 0 0.0004" rpy="3.1415927 0 1.5707963" />
      </inertial>
    </link>
  <joint name="joint_right_arm_1_fastened_23" type="fixed">
    <origin xyz="-0.0026907231 0.00077460274 -0.1215" rpy="1.5707963 0 1.2904964" />
    <parent link="link_right_arm_1_rightt_arm_part_2b_1" />
    <child link="link_right_arm_1_washer_m4_18" />
    </joint>
  <link name="link_left_arm_1_robstride_01_mock_3_rs_01_stator_1">
    <visual>
      <origin xyz="0 0 0" rpy="0 0 0" />
      <geometry>
        <mesh filename="./meshes/left_arm_1_robstride_01_mock_3_rs_01_stator_1_simple.stl" />
        </geometry>
      <material name="link_left_arm_1_robstride_01_mock_3_rs_01_stator_1_material">
        <color rgba="0.61568627 0.81176471 0.92941176 1" />
        </material>
      </visual>
    <collision>
      <origin xyz="0 0 0" rpy="0 0 0" />
      <geometry>
        <mesh filename="./meshes/left_arm_1_robstride_01_mock_3_rs_01_stator_1_simple.stl" />
        </geometry>
      </collision>
    <inertial>
      <mass value="0.34790535" />
      <inertia ixx="0.00017729433" iyy="0.00017583919" izz="0.00027827575" ixy="0" ixz="0" iyz="0" />
      <origin xyz="-0.012658427 0.034108418 -0.010580484" rpy="3.1413879 -1.5635875 -3.1354067" />
      </inertial>
    </link>
  <joint name="joint_left_arm_1_fastened_9" type="fixed">
    <origin xyz="0 0 0.0008" rpy="3.1415927 0 3.1415927" />
    <parent link="link_left_arm_1_washer_m4_26" />
    <child link="link_left_arm_1_robstride_01_mock_3_rs_01_stator_1" />
    </joint>
  <link name="link_right_arm_1_robstride_01_mock_2_rs_01_stator_1">
    <visual>
      <origin xyz="0 0 0" rpy="0 0 0" />
      <geometry>
        <mesh filename="./meshes/right_arm_1_robstride_01_mock_2_rs_01_stator_1_simple.stl" />
        </geometry>
      <material name="link_right_arm_1_robstride_01_mock_2_rs_01_stator_1_material">
        <color rgba="0.61568627 0.81176471 0.92941176 1" />
        </material>
      </visual>
    <collision>
      <origin xyz="0 0 0" rpy="0 0 0" />
      <geometry>
        <mesh filename="./meshes/right_arm_1_robstride_01_mock_2_rs_01_stator_1_simple.stl" />
        </geometry>
      </collision>
    <inertial>
      <mass value="0.34790535" />
      <inertia ixx="0.00027827575" iyy="0.00017583919" izz="0.00017729433" ixy="0" ixz="0" iyz="0" />
      <origin xyz="0.036625466 0.00018885059 0.017419516" rpy="3.1413879 -1.5635875 -1.5646104" />
      </inertial>
    </link>
  <joint name="joint_right_arm_1_fastened_5" type="fixed">
    <origin xyz="0 0 0.0008" rpy="0 0 1.5707963" />
    <parent link="link_right_arm_1_washer_m4_18" />
    <child link="link_right_arm_1_robstride_01_mock_2_rs_01_stator_1" />
    </joint>
  <link name="link_left_arm_1_robstride_01_mock_3_rs_01_rotor_1">
    <visual>
      <origin xyz="0 0 0" rpy="0 0 0" />
      <geometry>
        <mesh filename="./meshes/left_arm_1_robstride_01_mock_3_rs_01_rotor_1_simple.stl" />
        </geometry>
      <material name="link_left_arm_1_robstride_01_mock_3_rs_01_rotor_1_material">
        <color rgba="0.64705882 0.64705882 0.64705882 1" />
        </material>
      </visual>
    <collision>
      <origin xyz="0 0 0" rpy="0 0 0" />
      <geometry>
        <mesh filename="./meshes/left_arm_1_robstride_01_mock_3_rs_01_rotor_1_simple.stl" />
        </geometry>
      </collision>
    <inertial>
      <mass value="0.032" />
      <inertia ixx="4.5591154e-06" iyy="4.5575352e-06" izz="4.1553172e-06" ixy="0" ixz="0" iyz="0" />
      <origin xyz="-7.9372476e-05 -7.648864e-05 -0.01525" rpy="3.1415927 0.76689767 -1.5707963" />
      </inertial>
    </link>
  <joint name="left elbow pitch" type="revolute">
    <origin xyz="-0.012659308 0.034234368 -0.0015" rpy="0 0 0" />
    <parent link="link_left_arm_1_robstride_01_mock_3_rs_01_stator_1" />
    <child link="link_left_arm_1_robstride_01_mock_3_rs_01_rotor_1" />
    <limit effort="80" velocity="5" lower="-1.3089969" upper="1.8325957" />
    <axis xyz="0 0 -1" />
    </joint>
  <link name="link_right_arm_1_washer_m4_16">
    <visual>
      <origin xyz="0 0 0" rpy="0 0 0" />
      <geometry>
        <mesh filename="./meshes/right_arm_1_washer_m4_16_simple.stl" />
        </geometry>
      <material name="link_right_arm_1_washer_m4_16_material">
        <color rgba="0.75294118 0.75294118 0.75294118 1" />
        </material>
      </visual>
    <collision>
      <origin xyz="0 0 0" rpy="0 0 0" />
      <geometry>
        <mesh filename="./meshes/right_arm_1_washer_m4_16_simple.stl" />
        </geometry>
      </collision>
    <inertial>
      <mass value="4.5615925e-05" />
      <inertia ixx="0" iyy="0" izz="0" ixy="0" ixz="0" iyz="0" />
      <origin xyz="0 0 -0.0004" rpy="0 0 0" />
      </inertial>
    </link>
  <joint name="joint_right_arm_1_fastened_29" type="fixed">
    <origin xyz="0.070733884 0.012847278 0.028" rpy="3.1415927 0 0" />
    <parent link="link_right_arm_1_robstride_01_mock_2_rs_01_stator_1" />
    <child link="link_right_arm_1_washer_m4_16" />
    </joint>
  <link name="link_right_arm_1_robstride_01_mock_2_rs_01_rotor_1">
    <visual>
      <origin xyz="0 0 0" rpy="0 0 0" />
      <geometry>
        <mesh filename="./meshes/right_arm_1_robstride_01_mock_2_rs_01_rotor_1_simple.stl" />
        </geometry>
      <material name="link_right_arm_1_robstride_01_mock_2_rs_01_rotor_1_material">
        <color rgba="0.64705882 0.64705882 0.64705882 1" />
        </material>
      </visual>
    <collision>
      <origin xyz="0 0 0" rpy="0 0 0" />
      <geometry>
        <mesh filename="./meshes/right_arm_1_robstride_01_mock_2_rs_01_rotor_1_simple.stl" />
        </geometry>
      </collision>
    <inertial>
      <mass value="0.032" />
      <inertia ixx="4.5591154e-06" iyy="4.5575352e-06" izz="4.1553172e-06" ixy="0" ixz="0" iyz="0" />
      <origin xyz="-7.9372476e-05 -7.648864e-05 -0.01525" rpy="3.1415927 0.76689767 -1.5707963" />
      </inertial>
    </link>
  <joint name="right elbow pitch" type="revolute">
    <origin xyz="0.036499516 0.00018797018 0.0265" rpy="0 0 1.5707963" />
    <parent link="link_right_arm_1_robstride_01_mock_2_rs_01_stator_1" />
    <child link="link_right_arm_1_robstride_01_mock_2_rs_01_rotor_1" />
    <limit effort="80" velocity="5" lower="1.8325957" upper="3.403392" />
    <axis xyz="0 0 -1" />
    </joint>
  <link name="link_left_arm_1_left_arm_part_3b_1">
    <visual>
      <origin xyz="0 0 0" rpy="0 0 0" />
      <geometry>
        <mesh filename="./meshes/left_arm_1_left_arm_part_3b_1_simple.stl" />
        </geometry>
      <material name="link_left_arm_1_left_arm_part_3b_1_material">
        <color rgba="0.97254902 0.52941176 0.0039215686 1" />
        </material>
      </visual>
    <collision>
      <origin xyz="0 0 0" rpy="0 0 0" />
      <geometry>
        <mesh filename="./meshes/left_arm_1_left_arm_part_3b_1_simple.stl" />
        </geometry>
      </collision>
    <inertial>
      <mass value="0.33079612" />
      <inertia ixx="0.00033628569" iyy="0.000694832" izz="0.00053516723" ixy="4.8884468e-05" ixz="6.3929247e-06" iyz="5.9763309e-05" />
      <origin xyz="0.0027894269 -0.056037373 0.019504198" rpy="-3.0795123 -0.044890733 -0.0063471754" />
      </inertial>
    </link>
  <joint name="joint_left_arm_1_fastened_10" type="fixed">
    <origin xyz="0.01153167 -0.003319726 -0.0305" rpy="3.1415927 0 0" />
    <parent link="link_left_arm_1_robstride_01_mock_3_rs_01_rotor_1" />
    <child link="link_left_arm_1_left_arm_part_3b_1" />
    </joint>
  <link name="link_right_arm_1_right_arm_part_2a_1">
    <visual>
      <origin xyz="0 0 0" rpy="0 0 0" />
      <geometry>
        <mesh filename="./meshes/right_arm_1_right_arm_part_2a_1_simple.stl" />
        </geometry>
      <material name="link_right_arm_1_right_arm_part_2a_1_material">
        <color rgba="0.97254902 0.52941176 0.0039215686 1" />
        </material>
      </visual>
    <collision>
      <origin xyz="0 0 0" rpy="0 0 0" />
      <geometry>
        <mesh filename="./meshes/right_arm_1_right_arm_part_2a_1_simple.stl" />
        </geometry>
      </collision>
    <inertial>
      <mass value="0.44065493" />
      <inertia ixx="0.00080879562" iyy="0.00046785002" izz="0.0011737646" ixy="-1.2355643e-05" ixz="3.6410201e-06" iyz="-6.1920629e-06" />
      <origin xyz="0.011683303 0.0013538466 -0.012099696" rpy="-1.6901274 0.26650797 2.8399213" />
      </inertial>
    </link>
  <joint name="joint_right_arm_1_fastened_1" type="fixed">
    <origin xyz="0 0 -0.0008" rpy="0 0 1.5707963" />
    <parent link="link_right_arm_1_washer_m4_16" />
    <child link="link_right_arm_1_right_arm_part_2a_1" />
    </joint>
  <link name="link_right_arm_1_right_arm_part_3b_1">
    <visual>
      <origin xyz="0 0 0" rpy="0 0 0" />
      <geometry>
        <mesh filename="./meshes/right_arm_1_right_arm_part_3b_1_simple.stl" />
        </geometry>
      <material name="link_right_arm_1_right_arm_part_3b_1_material">
        <color rgba="0.97254902 0.52941176 0.0039215686 1" />
        </material>
      </visual>
    <collision>
      <origin xyz="0 0 0" rpy="0 0 0" />
      <geometry>
        <mesh filename="./meshes/right_arm_1_right_arm_part_3b_1_simple.stl" />
        </geometry>
      </collision>
    <inertial>
      <mass value="0.33058491" />
      <inertia ixx="0.00033677756" iyy="0.00070410945" izz="0.00052644634" ixy="-4.492402e-05" ixz="-2.0594578e-05" iyz="4.5361019e-05" />
      <origin xyz="-0.024466188 0.060627695 0.019484844" rpy="3.0519254 -0.11324046 0.013359332" />
      </inertial>
    </link>
  <joint name="joint_right_arm_1_fastened_8" type="fixed">
    <origin xyz="0.0086408022 0.0083268564 -0.0305" rpy="3.1415927 0 0" />
    <parent link="link_right_arm_1_robstride_01_mock_2_rs_01_rotor_1" />
    <child link="link_right_arm_1_right_arm_part_3b_1" />
    </joint>
  <link name="link_left_arm_1_washer_m4_28">
    <visual>
      <origin xyz="0 0 0" rpy="0 0 0" />
      <geometry>
        <mesh filename="./meshes/left_arm_1_washer_m4_28_simple.stl" />
        </geometry>
      <material name="link_left_arm_1_washer_m4_28_material">
        <color rgba="0.75294118 0.75294118 0.75294118 1" />
        </material>
      </visual>
    <collision>
      <origin xyz="0 0 0" rpy="0 0 0" />
      <geometry>
        <mesh filename="./meshes/left_arm_1_washer_m4_28_simple.stl" />
        </geometry>
      </collision>
    <inertial>
      <mass value="4.5615925e-05" />
      <inertia ixx="0" iyy="0" izz="0" ixy="0" ixz="0" iyz="0" />
      <origin xyz="0 0 0.0004" rpy="0 0 3.1415927" />
      </inertial>
    </link>
  <joint name="joint_left_arm_1_fastened_12" type="fixed">
    <origin xyz="0.04350085 -0.070750287 -0.0055162648" rpy="1.2915436 1.5707963 0" />
    <parent link="link_left_arm_1_left_arm_part_3b_1" />
    <child link="link_left_arm_1_washer_m4_28" />
    </joint>
  <link name="link_right_arm_1_robstride_01_mock_4_rs_01_stator_1">
    <visual>
      <origin xyz="0 0 0" rpy="0 0 0" />
      <geometry>
        <mesh filename="./meshes/right_arm_1_robstride_01_mock_4_rs_01_stator_1_simple.stl" />
        </geometry>
      <material name="link_right_arm_1_robstride_01_mock_4_rs_01_stator_1_material">
        <color rgba="0.61568627 0.81176471 0.92941176 1" />
        </material>
      </visual>
    <collision>
      <origin xyz="0 0 0" rpy="0 0 0" />
      <geometry>
        <mesh filename="./meshes/right_arm_1_robstride_01_mock_4_rs_01_stator_1_simple.stl" />
        </geometry>
      </collision>
    <inertial>
      <mass value="0.34790535" />
      <inertia ixx="0.00017729433" iyy="0.00017583919" izz="0.00027827575" ixy="0" ixz="0" iyz="0" />
      <origin xyz="-0.012658427 0.034108418 -0.010580484" rpy="3.1413879 -1.5635875 -3.1354067" />
      </inertial>
    </link>
  <joint name="joint_right_arm_1_fastened_10" type="fixed">
    <origin xyz="0.0022721399 0.094686589 -0.0055162648" rpy="1.850049 -1.5707963 0" />
    <parent link="link_right_arm_1_right_arm_part_3b_1" />
    <child link="link_right_arm_1_robstride_01_mock_4_rs_01_stator_1" />
    </joint>
  <link name="link_right_arm_1_washer_m4_29">
    <visual>
      <origin xyz="0 0 0" rpy="0 0 0" />
      <geometry>
        <mesh filename="./meshes/right_arm_1_washer_m4_29_simple.stl" />
        </geometry>
      <material name="link_right_arm_1_washer_m4_29_material">
        <color rgba="0.75294118 0.75294118 0.75294118 1" />
        </material>
      </visual>
    <collision>
      <origin xyz="0 0 0" rpy="0 0 0" />
      <geometry>
        <mesh filename="./meshes/right_arm_1_washer_m4_29_simple.stl" />
        </geometry>
      </collision>
    <inertial>
      <mass value="4.5615925e-05" />
      <inertia ixx="0" iyy="0" izz="0" ixy="0" ixz="0" iyz="0" />
      <origin xyz="0 0 0.0004" rpy="0 0 1.5707963" />
      </inertial>
    </link>
  <joint name="joint_right_arm_1_fastened_42" type="fixed">
    <origin xyz="-0.057575439 0.077525572 0.0054617478" rpy="-1.850049 1.5707963 0" />
    <parent link="link_right_arm_1_right_arm_part_3b_1" />
    <child link="link_right_arm_1_washer_m4_29" />
    </joint>
  <link name="link_left_arm_1_robstride_01_mock_4_rs_01_stator_1">
    <visual>
      <origin xyz="0 0 0" rpy="0 0 0" />
      <geometry>
        <mesh filename="./meshes/left_arm_1_robstride_01_mock_4_rs_01_stator_1_simple.stl" />
        </geometry>
      <material name="link_left_arm_1_robstride_01_mock_4_rs_01_stator_1_material">
        <color rgba="0.61568627 0.81176471 0.92941176 1" />
        </material>
      </visual>
    <collision>
      <origin xyz="0 0 0" rpy="0 0 0" />
      <geometry>
        <mesh filename="./meshes/left_arm_1_robstride_01_mock_4_rs_01_stator_1_simple.stl" />
        </geometry>
      </collision>
    <inertial>
      <mass value="0.34790535" />
      <inertia ixx="0.00017729433" iyy="0.00017583919" izz="0.00027827575" ixy="0" ixz="0" iyz="0" />
      <origin xyz="0.012308716 0.034236344 -0.010580484" rpy="3.1413879 -1.5635875 -3.1354067" />
      </inertial>
    </link>
  <joint name="joint_left_arm_1_fastened_40" type="fixed">
    <origin xyz="0 0 0.0008" rpy="3.1415927 0 0" />
    <parent link="link_left_arm_1_washer_m4_28" />
    <child link="link_left_arm_1_robstride_01_mock_4_rs_01_stator_1" />
    </joint>
  <link name="link_right_arm_1_right_arm_part_3a_1">
    <visual>
      <origin xyz="0 0 0" rpy="0 0 0" />
      <geometry>
        <mesh filename="./meshes/right_arm_1_right_arm_part_3a_1_simple.stl" />
        </geometry>
      <material name="link_right_arm_1_right_arm_part_3a_1_material">
        <color rgba="0.97254902 0.52941176 0.0039215686 1" />
        </material>
      </visual>
    <collision>
      <origin xyz="0 0 0" rpy="0 0 0" />
      <geometry>
        <mesh filename="./meshes/right_arm_1_right_arm_part_3a_1_simple.stl" />
        </geometry>
      </collision>
    <inertial>
      <mass value="0.30582591" />
      <inertia ixx="0.00062638318" iyy="0.00042898963" izz="0.00032454709" ixy="7.7420015e-06" ixz="5.921195e-05" iyz="-5.6354426e-06" />
      <origin xyz="0.02591828 0.035067063 -0.021210621" rpy="-3.1081221 0.00096496072 -3.1011955" />
      </inertial>
    </link>
  <joint name="joint_right_arm_1_fastened_9" type="fixed">
    <origin xyz="-0.024967143 -0.00012792554 0" rpy="3.1415927 0 3.1415927" />
    <parent link="link_right_arm_1_robstride_01_mock_4_rs_01_stator_1" />
    <child link="link_right_arm_1_right_arm_part_3a_1" />
    </joint>
  <link name="link_right_arm_1_robstride_01_mock_4_rs_01_rotor_1">
    <visual>
      <origin xyz="0 0 0" rpy="0 0 0" />
      <geometry>
        <mesh filename="./meshes/right_arm_1_robstride_01_mock_4_rs_01_rotor_1_simple.stl" />
        </geometry>
      <material name="link_right_arm_1_robstride_01_mock_4_rs_01_rotor_1_material">
        <color rgba="0.64705882 0.64705882 0.64705882 1" />
        </material>
      </visual>
    <collision>
      <origin xyz="0 0 0" rpy="0 0 0" />
      <geometry>
        <mesh filename="./meshes/right_arm_1_robstride_01_mock_4_rs_01_rotor_1_simple.stl" />
        </geometry>
      </collision>
    <inertial>
      <mass value="0.032" />
      <inertia ixx="4.5591154e-06" iyy="4.5575352e-06" izz="4.1553172e-06" ixy="0" ixz="0" iyz="0" />
      <origin xyz="-7.9372476e-05 -7.648864e-05 -0.01525" rpy="3.1415927 0.76689767 -1.5707963" />
      </inertial>
    </link>
  <joint name="right wrist roll" type="fixed">
    <origin xyz="-0.012659308 0.034234368 -0.0015" rpy="0 0 0" />
    <parent link="link_right_arm_1_robstride_01_mock_4_rs_01_stator_1" />
    <child link="link_right_arm_1_robstride_01_mock_4_rs_01_rotor_1" />
    <limit effort="80" velocity="5" lower="-3.1415927" upper="3.1415927" />
    <axis xyz="0 0 -1" />
    </joint>
  <link name="link_left_arm_1_washer_m4_31">
    <visual>
      <origin xyz="0 0 0" rpy="0 0 0" />
      <geometry>
        <mesh filename="./meshes/left_arm_1_washer_m4_31_simple.stl" />
        </geometry>
      <material name="link_left_arm_1_washer_m4_31_material">
        <color rgba="0.75294118 0.75294118 0.75294118 1" />
        </material>
      </visual>
    <collision>
      <origin xyz="0 0 0" rpy="0 0 0" />
      <geometry>
        <mesh filename="./meshes/left_arm_1_washer_m4_31_simple.stl" />
        </geometry>
      </collision>
    <inertial>
      <mass value="4.5615925e-05" />
      <inertia ixx="0" iyy="0" izz="0" ixy="0" ixz="0" iyz="0" />
      <origin xyz="0 0 0.0004" rpy="3.1415927 0 3.1415927" />
      </inertial>
    </link>
  <joint name="joint_left_arm_1_fastened_42" type="fixed">
    <origin xyz="0.035626013 0.062442759 0" rpy="0 0 0" />
    <parent link="link_left_arm_1_robstride_01_mock_4_rs_01_stator_1" />
    <child link="link_left_arm_1_washer_m4_31" />
    </joint>
  <link name="link_left_arm_1_robstride_01_mock_4_rs_01_rotor_1">
    <visual>
      <origin xyz="0 0 0" rpy="0 0 0" />
      <geometry>
        <mesh filename="./meshes/left_arm_1_robstride_01_mock_4_rs_01_rotor_1_simple.stl" />
        </geometry>
      <material name="link_left_arm_1_robstride_01_mock_4_rs_01_rotor_1_material">
        <color rgba="0.64705882 0.64705882 0.64705882 1" />
        </material>
      </visual>
    <collision>
      <origin xyz="0 0 0" rpy="0 0 0" />
      <geometry>
        <mesh filename="./meshes/left_arm_1_robstride_01_mock_4_rs_01_rotor_1_simple.stl" />
        </geometry>
      </collision>
    <inertial>
      <mass value="0.032" />
      <inertia ixx="4.5591154e-06" iyy="4.5575352e-06" izz="4.1553172e-06" ixy="0" ixz="0" iyz="0" />
      <origin xyz="-7.9372476e-05 -7.648864e-05 -0.01525" rpy="3.1415927 0.76689767 -1.5707963" />
      </inertial>
    </link>
  <joint name="left wrist roll" type="fixed">
    <origin xyz="0.012307835 0.034362293 -0.0015" rpy="0 0 0" />
    <parent link="link_left_arm_1_robstride_01_mock_4_rs_01_stator_1" />
    <child link="link_left_arm_1_robstride_01_mock_4_rs_01_rotor_1" />
    <limit effort="80" velocity="5" lower="-3.1415927" upper="0" />
    <axis xyz="0 0 -1" />
    </joint>
  <link name="link_right_arm_1_washer_m4_31">
    <visual>
      <origin xyz="0 0 0" rpy="0 0 0" />
      <geometry>
        <mesh filename="./meshes/right_arm_1_washer_m4_31_simple.stl" />
        </geometry>
      <material name="link_right_arm_1_washer_m4_31_material">
        <color rgba="0.75294118 0.75294118 0.75294118 1" />
        </material>
      </visual>
    <collision>
      <origin xyz="0 0 0" rpy="0 0 0" />
      <geometry>
        <mesh filename="./meshes/right_arm_1_washer_m4_31_simple.stl" />
        </geometry>
      </collision>
    <inertial>
      <mass value="4.5615925e-05" />
      <inertia ixx="0" iyy="0" izz="0" ixy="0" ixz="0" iyz="0" />
      <origin xyz="0 0 0.0004" rpy="0 0 1.5707963" />
      </inertial>
    </link>
  <joint name="joint_right_arm_1_fastened_39" type="fixed">
    <origin xyz="0 0 0" rpy="0 0 0" />
    <parent link="link_right_arm_1_right_arm_part_3a_1" />
    <child link="link_right_arm_1_washer_m4_31" />
    </joint>
  <link name="link_right_arm_1_stub_1">
    <visual>
      <origin xyz="0 0 0" rpy="0 0 0" />
      <geometry>
        <mesh filename="./meshes/right_arm_1_stub_1_simple.stl" />
        </geometry>
      <material name="link_right_arm_1_stub_1_material">
        <color rgba="0 0 0 1" />
        </material>
      </visual>
    <collision>
      <origin xyz="0 0 0" rpy="0 0 0" />
      <geometry>
        <mesh filename="./meshes/right_arm_1_stub_1_simple.stl" />
        </geometry>
      </collision>
    <inertial>
      <mass value="0.41915078" />
      <inertia ixx="0.00031476661" iyy="0.0003147666" izz="0.00046050242" ixy="0" ixz="0" iyz="0" />
      <origin xyz="0 0 -0.025155751" rpy="0 0 0.84007407" />
      </inertial>
    </link>
  <joint name="joint_right_arm_1_fastened_43" type="fixed">
    <origin xyz="0 0 -0.0305" rpy="0 0 -1.5707963" />
    <parent link="link_right_arm_1_robstride_01_mock_4_rs_01_rotor_1" />
    <child link="link_right_arm_1_stub_1" />
    </joint>
  <link name="link_left_arm_1_left_arm_part_3a_1">
    <visual>
      <origin xyz="0 0 0" rpy="0 0 0" />
      <geometry>
        <mesh filename="./meshes/left_arm_1_left_arm_part_3a_1_simple.stl" />
        </geometry>
      <material name="link_left_arm_1_left_arm_part_3a_1_material">
        <color rgba="0.97254902 0.52941176 0.0039215686 1" />
        </material>
      </visual>
    <collision>
      <origin xyz="0 0 0" rpy="0 0 0" />
      <geometry>
        <mesh filename="./meshes/left_arm_1_left_arm_part_3a_1_simple.stl" />
        </geometry>
      </collision>
    <inertial>
      <mass value="0.3037206" />
      <inertia ixx="0.0006190917" iyy="0.00042167941" izz="0.00032414018" ixy="-7.6276885e-06" ixz="5.836096e-05" iyz="5.4971674e-06" />
      <origin xyz="0.014903591 0.0271948 -0.020822001" rpy="3.1052841 0.0010195461 3.0977042" />
      </inertial>
    </link>
  <joint name="joint_left_arm_1_fastened_38" type="fixed">
    <origin xyz="0 0 0.0008" rpy="3.1415927 0 0" />
    <parent link="link_left_arm_1_washer_m4_31" />
    <child link="link_left_arm_1_left_arm_part_3a_1" />
    </joint>
  <link name="link_left_arm_1_stub_1">
    <visual>
      <origin xyz="0 0 0" rpy="0 0 0" />
      <geometry>
        <mesh filename="./meshes/left_arm_1_stub_1_simple.stl" />
        </geometry>
      <material name="link_left_arm_1_stub_1_material">
        <color rgba="0 0 0 1" />
        </material>
      </visual>
    <collision>
      <origin xyz="0 0 0" rpy="0 0 0" />
      <geometry>
        <mesh filename="./meshes/left_arm_1_stub_1_simple.stl" />
        </geometry>
      </collision>
    <inertial>
      <mass value="0.41915078" />
      <inertia ixx="0.00031476661" iyy="0.0003147666" izz="0.00046050242" ixy="0" ixz="0" iyz="0" />
      <origin xyz="0 0 -0.025155751" rpy="0 0 0.84007407" />
      </inertial>
    </link>
  <joint name="joint_left_arm_1_fastened_43" type="fixed">
    <origin xyz="0 0 -0.0305" rpy="0 0 1.5707963" />
    <parent link="link_left_arm_1_robstride_01_mock_4_rs_01_rotor_1" />
    <child link="link_left_arm_1_stub_1" />
    </joint>

    <link name="left_end_effector_link"/>
    <joint name="left_end_effector_joint" type="fixed">
      <parent link="link_left_arm_1_robstride_01_mock_4_rs_01_rotor_1"/>
      <child link="left_end_effector_link"/>
      <origin xyz="-.05 0 -.1" rpy="0 0 0"/>  <!-- Adjust these values to position it at the tip -->
    </joint>
  <link name="right_end_effector_link"/>
    <joint name="right_end_effector_joint" type="fixed">
      <parent link="link_right_arm_1_robstride_01_mock_4_rs_01_rotor_1"/>
      <child link="right_end_effector_link"/>
      <origin xyz="-.05 0 -.1" rpy="0 0 0"/>  <!-- Adjust these values to position it at the tip -->
    </joint>
  </robot>
